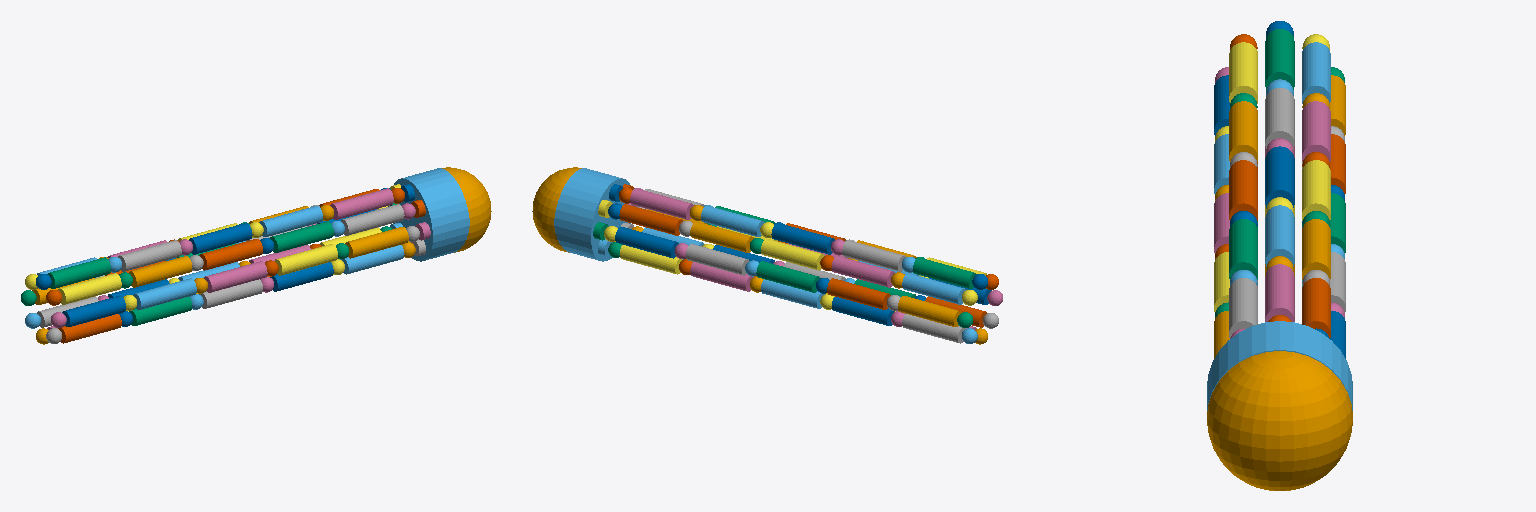
--- Facts derived from the render (not from the file) ---
3 views of the same robot in one strip: view 1: azimuth 30°, elevation 25°; view 2: azimuth 150°, elevation 25°; view 3: azimuth 270°, elevation 25° (orthographic).
Model sentinel_complete with 138 links and 137 joints (80 revolute, 57 fixed), rooted at eye, posed every joint at zero.
Links seen in each view (by area): view 1: head, eye, branch_44_cylinder, branch_21_cylinder, branch_24_cylinder, branch_35_cylinder, branch_32_cylinder, branch_22_cylinder, branch_25_cylinder, branch_31_cylinder, branch_33_cylinder, branch_41_cylinder (+10 smaller); view 2: head, eye, branch_04_cylinder, branch_21_cylinder, branch_15_cylinder, branch_24_cylinder, branch_12_cylinder, branch_01_cylinder, branch_02_cylinder, branch_03_cylinder, branch_05_cylinder, branch_11_cylinder (+10 smaller); view 3: eye, head, branch_22_cylinder, branch_23_cylinder, branch_24_cylinder, branch_25_cylinder, branch_21_cylinder, branch_14_cylinder, branch_34_cylinder, branch_15_cylinder, branch_35_cylinder, branch_12_cylinder (+15 smaller).
Boxes of the visible links, x1,y1,x2,y2 form: head: (393,168,469,261); eye: (442,167,491,252); branch_44_cylinder: (133,278,196,309); branch_21_cylinder: (330,188,393,219); branch_24_cylinder: (118,240,181,271); branch_35_cylinder: (58,273,121,304); branch_32_cylinder: (270,221,333,252); branch_22_cylinder: (259,206,322,236); branch_25_cylinder: (47,257,110,288); branch_31_cylinder: (341,204,404,235); branch_33_cylinder: (199,239,262,270); branch_41_cylinder: (345,227,408,258); head: (554,168,630,261); eye: (532,167,581,252); branch_04_cylinder: (827,278,890,309); branch_21_cylinder: (630,188,693,219); branch_15_cylinder: (902,273,965,304); branch_24_cylinder: (842,240,905,271); branch_12_cylinder: (690,221,753,252); branch_01_cylinder: (615,227,678,258); branch_02_cylinder: (686,244,748,275); branch_03_cylinder: (756,261,819,292); branch_05_cylinder: (898,296,961,326); branch_11_cylinder: (619,204,682,235); eye: (1207,351,1352,490); head: (1207,321,1352,410); branch_22_cylinder: (1265,205,1294,266); branch_23_cylinder: (1265,146,1294,207); branch_24_cylinder: (1265,88,1294,148); branch_25_cylinder: (1265,29,1294,89); branch_21_cylinder: (1265,264,1294,321); branch_14_cylinder: (1302,101,1330,161); branch_34_cylinder: (1229,101,1257,161); branch_15_cylinder: (1302,42,1330,103); branch_35_cylinder: (1229,42,1257,103); branch_12_cylinder: (1302,219,1330,279).
Size in the robot's own frame: 1.21 by 0.2 by 0.203 metres.
Geometry: primitives only (box / cylinder / sphere), no mesh files.

The robot description file, URDF, robot "sentinel_complete":
<?xml version="1.0"?>
<robot name="sentinel_complete">
<link name="eye">
  <inertial>
  <mass value="0.05"/>
  <inertia ixx="0.005" ixy="0.001" ixz="0" iyy="0.006" iyz="0" izz="0.007"/>
  </inertial>
  <collision>
    <origin rpy="0 0 0" xyz="0 0 0"/>
    <geometry>
      <sphere radius="0.1"/>
    </geometry>
  </collision>
  <visual>
    <origin rpy="0 0 0" xyz="0 0 0"/>
    <geometry>
      <sphere radius="0.1"/>
    </geometry>
  </visual>
</link>

 <link name="head">
  <inertial>
    <mass value="0.05"/>
    <inertia ixx="0.005" ixy="0.001" ixz="0" iyy="0.006" iyz="0" izz="0.007"/>
  </inertial>
  <visual>
    <origin rpy="0 1.54 0" xyz="-0.05 0 0"/>
    <geometry>
      <cylinder length="0.1" radius="0.1"/>
    </geometry>
  </visual>
  <collision>
    <origin rpy="0 1.57 0" xyz="-0.05 0 0"/>
    <geometry>
      <cylinder length="0.1" radius="0.1"/>
    </geometry>
  </collision>
 </link>

<joint name="joint_eye_head" type="fixed">
  <origin rpy="0 0 0" xyz="0 0 0"/>
  <parent link="eye"/>
  <child link="head"/>
</joint>

<!--############################################################################
branch_00
##############################################################################-->
 <link name="branch_00_cylinder">
  <inertial>
    <mass value="0.05"/>
    <inertia ixx="0.005" ixy="0.001" ixz="0" iyy="0.006" iyz="0" izz="0.007"/>
  </inertial>
  <visual>
    <origin rpy="0 1.54 0" xyz="-0.009375 0 0"/>
    <geometry>
      <cylinder length="0.01875" radius="0.02"/>
    </geometry>
  </visual>
  <collision>
    <origin rpy="0 1.57 0" xyz="-0.009375 0 0"/>
    <geometry>
      <cylinder length="0.01875" radius="0.02"/>
    </geometry>
  </collision>
 </link>

<joint name="head_branch_00_joint" type="fixed">
  <origin rpy="0 0 0" xyz="-0.1 0.07 0.0"/>
  <parent link="head"/>
  <child link="branch_00_cylinder"/>
</joint>

<link name="branch_00">
  <inertial>
  <mass value="0.05"/>
  <inertia ixx="0.005" ixy="0.001" ixz="0" iyy="0.006" iyz="0" izz="0.007"/>
  </inertial>
  <collision>
    <origin rpy="0 0 0" xyz="-0.03875 0 0"/>
    <geometry>
      <sphere radius="0.019"/>
    </geometry>
  </collision>
  <visual>
    <origin rpy="0 0 0" xyz="-0.03875 0 0"/>
    <geometry>
      <sphere radius="0.019"/>
    </geometry>
  </visual>
</link>

<joint name="branch_00_fixed" type="fixed">
  <origin rpy="0 0 0" xyz="0 0 0"/>
  <parent link="branch_00_cylinder"/>
  <child link="branch_00"/>
</joint>

 <link name="branch_01_cylinder">
  <inertial>
    <mass value="0.05"/>
    <inertia ixx="0.005" ixy="0.001" ixz="0" iyy="0.006" iyz="0" izz="0.007"/>
  </inertial>
  <visual>
    <origin rpy="0 1.54 0" xyz="-0.095 0 0"/>
    <geometry>
      <cylinder length="0.15" radius="0.02"/>
    </geometry>
  </visual>
  <collision>
    <origin rpy="0 1.57 0" xyz="-0.095 0 0"/>
    <geometry>
      <cylinder length="0.15" radius="0.02"/>
    </geometry>
  </collision>
 </link>

<joint name="branch_00_branch_01_joint_revolute_Z" type="revolute">
  <origin rpy="0 0 0" xyz="-0.03875 0 0"/>
  <parent link="branch_00"/>
  <child link="branch_00_spherical_joint_link"/>
  <axis xyz="0 0 1"/>
  <dynamics damping="0.5" friction="0"/>
  <limit lower="-1.57079632679" upper="1.57079632679" effort="0.01" velocity="100"/>
</joint>

<link name="branch_00_spherical_joint_link" physical="0">
  <inertial>
  <mass value="0.05"/>
  <inertia ixx="0.005" ixy="0.001" ixz="0" iyy="0.006" iyz="0" izz="0.007"/>
  </inertial>
  <collision>
    <origin rpy="0 0 0" xyz="0 0 0"/>
    <geometry>
      <sphere radius="0.001"/>
    </geometry>
  </collision>
  <visual>
    <origin rpy="0 0 0" xyz="0 0 0"/>
    <geometry>
      <sphere radius="0.001"/>
    </geometry>
  </visual>
</link>

<joint name="branch_00_branch_01_joint_revolute_Y" type="revolute">
  <origin rpy="0 0 0" xyz="0 0 0"/>
  <parent link="branch_00_spherical_joint_link"/>
  <child link="branch_01_cylinder"/>
  <axis xyz="0 1 0"/>
  <dynamics damping="0.5" friction="0"/>
  <limit lower="-1.57079632679" upper="1.57079632679" effort="0.01" velocity="100"/>
</joint>

<link name="branch_01">
  <inertial>
  <mass value="0.05"/>
  <inertia ixx="0.005" ixy="0.001" ixz="0" iyy="0.006" iyz="0" izz="0.007"/>
  </inertial>
  <collision>
    <origin rpy="0 0 0" xyz="-0.19 0 0"/>
    <geometry>
      <sphere radius="0.019"/>
    </geometry>
  </collision>
  <visual>
    <origin rpy="0 0 0" xyz="-0.19 0 0"/>
    <geometry>
      <sphere radius="0.019"/>
    </geometry>
  </visual>
</link>

<joint name="branch_01_fixed" type="fixed">
  <origin rpy="0 0 0" xyz="0 0 0"/>
  <parent link="branch_01_cylinder"/>
  <child link="branch_01"/>
</joint>

 <link name="branch_02_cylinder">
  <inertial>
    <mass value="0.05"/>
    <inertia ixx="0.005" ixy="0.001" ixz="0" iyy="0.006" iyz="0" izz="0.007"/>
  </inertial>
  <visual>
    <origin rpy="0 1.54 0" xyz="-0.095 0 0"/>
    <geometry>
      <cylinder length="0.15" radius="0.02"/>
    </geometry>
  </visual>
  <collision>
    <origin rpy="0 1.57 0" xyz="-0.095 0 0"/>
    <geometry>
      <cylinder length="0.15" radius="0.02"/>
    </geometry>
  </collision>
 </link>

<joint name="branch_01_branch_02_joint_revolute_Z" type="revolute">
  <origin rpy="0 0 0" xyz="-0.19 0 0"/>
  <parent link="branch_01"/>
  <child link="branch_01_spherical_joint_link"/>
  <axis xyz="0 0 1"/>
  <dynamics damping="0.5" friction="0"/>
  <limit lower="-1.57079632679" upper="1.57079632679" effort="0.01" velocity="100"/>
</joint>

<link name="branch_01_spherical_joint_link" physical="0">
  <inertial>
  <mass value="0.05"/>
  <inertia ixx="0.005" ixy="0.001" ixz="0" iyy="0.006" iyz="0" izz="0.007"/>
  </inertial>
  <collision>
    <origin rpy="0 0 0" xyz="0 0 0"/>
    <geometry>
      <sphere radius="0.001"/>
    </geometry>
  </collision>
  <visual>
    <origin rpy="0 0 0" xyz="0 0 0"/>
    <geometry>
      <sphere radius="0.001"/>
    </geometry>
  </visual>
</link>

<joint name="branch_01_branch_02_joint_revolute_Y" type="revolute">
  <origin rpy="0 0 0" xyz="0 0 0"/>
  <parent link="branch_01_spherical_joint_link"/>
  <child link="branch_02_cylinder"/>
  <axis xyz="0 1 0"/>
  <dynamics damping="0.5" friction="0"/>
  <limit lower="-1.57079632679" upper="1.57079632679" effort="0.01" velocity="100"/>
</joint>

<link name="branch_02">
  <inertial>
  <mass value="0.05"/>
  <inertia ixx="0.005" ixy="0.001" ixz="0" iyy="0.006" iyz="0" izz="0.007"/>
  </inertial>
  <collision>
    <origin rpy="0 0 0" xyz="-0.19 0 0"/>
    <geometry>
      <sphere radius="0.019"/>
    </geometry>
  </collision>
  <visual>
    <origin rpy="0 0 0" xyz="-0.19 0 0"/>
    <geometry>
      <sphere radius="0.019"/>
    </geometry>
  </visual>
</link>

<joint name="branch_02_fixed" type="fixed">
  <origin rpy="0 0 0" xyz="0 0 0"/>
  <parent link="branch_02_cylinder"/>
  <child link="branch_02"/>
</joint>

 <link name="branch_03_cylinder">
  <inertial>
    <mass value="0.05"/>
    <inertia ixx="0.005" ixy="0.001" ixz="0" iyy="0.006" iyz="0" izz="0.007"/>
  </inertial>
  <visual>
    <origin rpy="0 1.54 0" xyz="-0.095 0 0"/>
    <geometry>
      <cylinder length="0.15" radius="0.02"/>
    </geometry>
  </visual>
  <collision>
    <origin rpy="0 1.57 0" xyz="-0.095 0 0"/>
    <geometry>
      <cylinder length="0.15" radius="0.02"/>
    </geometry>
  </collision>
 </link>

<joint name="branch_02_branch_03_joint_revolute_Z" type="revolute">
  <origin rpy="0 0 0" xyz="-0.19 0 0"/>
  <parent link="branch_02"/>
  <child link="branch_02_spherical_joint_link"/>
  <axis xyz="0 0 1"/>
  <dynamics damping="0.5" friction="0"/>
  <limit lower="-1.57079632679" upper="1.57079632679" effort="0.01" velocity="100"/>
</joint>

<link name="branch_02_spherical_joint_link" physical="0">
  <inertial>
  <mass value="0.05"/>
  <inertia ixx="0.005" ixy="0.001" ixz="0" iyy="0.006" iyz="0" izz="0.007"/>
  </inertial>
  <collision>
    <origin rpy="0 0 0" xyz="0 0 0"/>
    <geometry>
      <sphere radius="0.001"/>
    </geometry>
  </collision>
  <visual>
    <origin rpy="0 0 0" xyz="0 0 0"/>
    <geometry>
      <sphere radius="0.001"/>
    </geometry>
  </visual>
</link>

<joint name="branch_02_branch_03_joint_revolute_Y" type="revolute">
  <origin rpy="0 0 0" xyz="0 0 0"/>
  <parent link="branch_02_spherical_joint_link"/>
  <child link="branch_03_cylinder"/>
  <axis xyz="0 1 0"/>
  <dynamics damping="0.5" friction="0"/>
  <limit lower="-1.57079632679" upper="1.57079632679" effort="0.01" velocity="100"/>
</joint>

<link name="branch_03">
  <inertial>
  <mass value="0.05"/>
  <inertia ixx="0.005" ixy="0.001" ixz="0" iyy="0.006" iyz="0" izz="0.007"/>
  </inertial>
  <collision>
    <origin rpy="0 0 0" xyz="-0.19 0 0"/>
    <geometry>
      <sphere radius="0.019"/>
    </geometry>
  </collision>
  <visual>
    <origin rpy="0 0 0" xyz="-0.19 0 0"/>
    <geometry>
      <sphere radius="0.019"/>
    </geometry>
  </visual>
</link>

<joint name="branch_03_fixed" type="fixed">
  <origin rpy="0 0 0" xyz="0 0 0"/>
  <parent link="branch_03_cylinder"/>
  <child link="branch_03"/>
</joint>

 <link name="branch_04_cylinder">
  <inertial>
    <mass value="0.05"/>
    <inertia ixx="0.005" ixy="0.001" ixz="0" iyy="0.006" iyz="0" izz="0.007"/>
  </inertial>
  <visual>
    <origin rpy="0 1.54 0" xyz="-0.095 0 0"/>
    <geometry>
      <cylinder length="0.15" radius="0.02"/>
    </geometry>
  </visual>
  <collision>
    <origin rpy="0 1.57 0" xyz="-0.095 0 0"/>
    <geometry>
      <cylinder length="0.15" radius="0.02"/>
    </geometry>
  </collision>
 </link>

<joint name="branch_03_branch_04_joint_revolute_Z" type="revolute">
  <origin rpy="0 0 0" xyz="-0.19 0 0"/>
  <parent link="branch_03"/>
  <child link="branch_03_spherical_joint_link"/>
  <axis xyz="0 0 1"/>
  <dynamics damping="0.5" friction="0"/>
  <limit lower="-1.57079632679" upper="1.57079632679" effort="0.01" velocity="100"/>
</joint>

<link name="branch_03_spherical_joint_link" physical="0">
  <inertial>
  <mass value="0.05"/>
  <inertia ixx="0.005" ixy="0.001" ixz="0" iyy="0.006" iyz="0" izz="0.007"/>
  </inertial>
  <collision>
    <origin rpy="0 0 0" xyz="0 0 0"/>
    <geometry>
      <sphere radius="0.001"/>
    </geometry>
  </collision>
  <visual>
    <origin rpy="0 0 0" xyz="0 0 0"/>
    <geometry>
      <sphere radius="0.001"/>
    </geometry>
  </visual>
</link>

<joint name="branch_03_branch_04_joint_revolute_Y" type="revolute">
  <origin rpy="0 0 0" xyz="0 0 0"/>
  <parent link="branch_03_spherical_joint_link"/>
  <child link="branch_04_cylinder"/>
  <axis xyz="0 1 0"/>
  <dynamics damping="0.5" friction="0"/>
  <limit lower="-1.57079632679" upper="1.57079632679" effort="0.01" velocity="100"/>
</joint>

<link name="branch_04">
  <inertial>
  <mass value="0.05"/>
  <inertia ixx="0.005" ixy="0.001" ixz="0" iyy="0.006" iyz="0" izz="0.007"/>
  </inertial>
  <collision>
    <origin rpy="0 0 0" xyz="-0.19 0 0"/>
    <geometry>
      <sphere radius="0.019"/>
    </geometry>
  </collision>
  <visual>
    <origin rpy="0 0 0" xyz="-0.19 0 0"/>
    <geometry>
      <sphere radius="0.019"/>
    </geometry>
  </visual>
</link>

<joint name="branch_04_fixed" type="fixed">
  <origin rpy="0 0 0" xyz="0 0 0"/>
  <parent link="branch_04_cylinder"/>
  <child link="branch_04"/>
</joint>

 <link name="branch_05_cylinder">
  <inertial>
    <mass value="0.05"/>
    <inertia ixx="0.005" ixy="0.001" ixz="0" iyy="0.006" iyz="0" izz="0.007"/>
  </inertial>
  <visual>
    <origin rpy="0 1.54 0" xyz="-0.095 0 0"/>
    <geometry>
      <cylinder length="0.15" radius="0.02"/>
    </geometry>
  </visual>
  <collision>
    <origin rpy="0 1.57 0" xyz="-0.095 0 0"/>
    <geometry>
      <cylinder length="0.15" radius="0.02"/>
    </geometry>
  </collision>
 </link>

<joint name="branch_04_branch_05_joint_revolute_Z" type="revolute">
  <origin rpy="0 0 0" xyz="-0.19 0 0"/>
  <parent link="branch_04"/>
  <child link="branch_04_spherical_joint_link"/>
  <axis xyz="0 0 1"/>
  <dynamics damping="0.5" friction="0"/>
  <limit lower="-1.57079632679" upper="1.57079632679" effort="0.01" velocity="100"/>
</joint>

<link name="branch_04_spherical_joint_link" physical="0">
  <inertial>
  <mass value="0.05"/>
  <inertia ixx="0.005" ixy="0.001" ixz="0" iyy="0.006" iyz="0" izz="0.007"/>
  </inertial>
  <collision>
    <origin rpy="0 0 0" xyz="0 0 0"/>
    <geometry>
      <sphere radius="0.001"/>
    </geometry>
  </collision>
  <visual>
    <origin rpy="0 0 0" xyz="0 0 0"/>
    <geometry>
      <sphere radius="0.001"/>
    </geometry>
  </visual>
</link>

<joint name="branch_04_branch_05_joint_revolute_Y" type="revolute">
  <origin rpy="0 0 0" xyz="0 0 0"/>
  <parent link="branch_04_spherical_joint_link"/>
  <child link="branch_05_cylinder"/>
  <axis xyz="0 1 0"/>
  <dynamics damping="0.5" friction="0"/>
  <limit lower="-1.57079632679" upper="1.57079632679" effort="0.01" velocity="100"/>
</joint>

<link name="branch_05">
  <inertial>
  <mass value="0.05"/>
  <inertia ixx="0.005" ixy="0.001" ixz="0" iyy="0.006" iyz="0" izz="0.007"/>
  </inertial>
  <collision>
    <origin rpy="0 0 0" xyz="-0.19 0 0"/>
    <geometry>
      <sphere radius="0.019"/>
    </geometry>
  </collision>
  <visual>
    <origin rpy="0 0 0" xyz="-0.19 0 0"/>
    <geometry>
      <sphere radius="0.019"/>
    </geometry>
  </visual>
</link>

<joint name="branch_05_fixed" type="fixed">
  <origin rpy="0 0 0" xyz="0 0 0"/>
  <parent link="branch_05_cylinder"/>
  <child link="branch_05"/>
</joint>

<!--############################################################################
branch_10
##############################################################################-->
 <link name="branch_10_cylinder">
  <inertial>
    <mass value="0.05"/>
    <inertia ixx="0.005" ixy="0.001" ixz="0" iyy="0.006" iyz="0" izz="0.007"/>
  </inertial>
  <visual>
    <origin rpy="0 1.54 0" xyz="-0.009375 0 0"/>
    <geometry>
      <cylinder length="0.01875" radius="0.02"/>
    </geometry>
  </visual>
  <collision>
    <origin rpy="0 1.57 0" xyz="-0.009375 0 0"/>
    <geometry>
      <cylinder length="0.01875" radius="0.02"/>
    </geometry>
  </collision>
 </link>

<joint name="head_branch_10_joint" type="fixed">
  <origin rpy="0 0 0" xyz="-0.1 0.0494974746831 0.0494974746831"/>
  <parent link="head"/>
  <child link="branch_10_cylinder"/>
</joint>

<link name="branch_10">
  <inertial>
  <mass value="0.05"/>
  <inertia ixx="0.005" ixy="0.001" ixz="0" iyy="0.006" iyz="0" izz="0.007"/>
  </inertial>
  <collision>
    <origin rpy="0 0 0" xyz="-0.03875 0 0"/>
    <geometry>
      <sphere radius="0.019"/>
    </geometry>
  </collision>
  <visual>
    <origin rpy="0 0 0" xyz="-0.03875 0 0"/>
    <geometry>
      <sphere radius="0.019"/>
    </geometry>
  </visual>
</link>

<joint name="branch_10_fixed" type="fixed">
  <origin rpy="0 0 0" xyz="0 0 0"/>
  <parent link="branch_10_cylinder"/>
  <child link="branch_10"/>
</joint>

 <link name="branch_11_cylinder">
  <inertial>
    <mass value="0.05"/>
    <inertia ixx="0.005" ixy="0.001" ixz="0" iyy="0.006" iyz="0" izz="0.007"/>
  </inertial>
  <visual>
    <origin rpy="0 1.54 0" xyz="-0.095 0 0"/>
    <geometry>
      <cylinder length="0.15" radius="0.02"/>
    </geometry>
  </visual>
  <collision>
    <origin rpy="0 1.57 0" xyz="-0.095 0 0"/>
    <geometry>
      <cylinder length="0.15" radius="0.02"/>
    </geometry>
  </collision>
 </link>

<joint name="branch_10_branch_11_joint_revolute_Z" type="revolute">
  <origin rpy="0 0 0" xyz="-0.03875 0 0"/>
  <parent link="branch_10"/>
  <child link="branch_10_spherical_joint_link"/>
  <axis xyz="0 0 1"/>
  <dynamics damping="0.5" friction="0"/>
  <limit lower="-1.57079632679" upper="1.57079632679" effort="0.01" velocity="100"/>
</joint>

<link name="branch_10_spherical_joint_link" physical="0">
  <inertial>
  <mass value="0.05"/>
  <inertia ixx="0.005" ixy="0.001" ixz="0" iyy="0.006" iyz="0" izz="0.007"/>
  </inertial>
  <collision>
    <origin rpy="0 0 0" xyz="0 0 0"/>
    <geometry>
      <sphere radius="0.001"/>
    </geometry>
  </collision>
  <visual>
    <origin rpy="0 0 0" xyz="0 0 0"/>
    <geometry>
      <sphere radius="0.001"/>
    </geometry>
  </visual>
</link>

<joint name="branch_10_branch_11_joint_revolute_Y" type="revolute">
  <origin rpy="0 0 0" xyz="0 0 0"/>
  <parent link="branch_10_spherical_joint_link"/>
  <child link="branch_11_cylinder"/>
  <axis xyz="0 1 0"/>
  <dynamics damping="0.5" friction="0"/>
  <limit lower="-1.57079632679" upper="1.57079632679" effort="0.01" velocity="100"/>
</joint>

<link name="branch_11">
  <inertial>
  <mass value="0.05"/>
  <inertia ixx="0.005" ixy="0.001" ixz="0" iyy="0.006" iyz="0" izz="0.007"/>
  </inertial>
  <collision>
    <origin rpy="0 0 0" xyz="-0.19 0 0"/>
    <geometry>
      <sphere radius="0.019"/>
    </geometry>
  </collision>
  <visual>
    <origin rpy="0 0 0" xyz="-0.19 0 0"/>
    <geometry>
      <sphere radius="0.019"/>
    </geometry>
  </visual>
</link>

<joint name="branch_11_fixed" type="fixed">
  <origin rpy="0 0 0" xyz="0 0 0"/>
  <parent link="branch_11_cylinder"/>
  <child link="branch_11"/>
</joint>

 <link name="branch_12_cylinder">
  <inertial>
    <mass value="0.05"/>
    <inertia ixx="0.005" ixy="0.001" ixz="0" iyy="0.006" iyz="0" izz="0.007"/>
  </inertial>
  <visual>
    <origin rpy="0 1.54 0" xyz="-0.095 0 0"/>
    <geometry>
      <cylinder length="0.15" radius="0.02"/>
    </geometry>
  </visual>
  <collision>
    <origin rpy="0 1.57 0" xyz="-0.095 0 0"/>
    <geometry>
      <cylinder length="0.15" radius="0.02"/>
    </geometry>
  </collision>
 </link>

<joint name="branch_11_branch_12_joint_revolute_Z" type="revolute">
  <origin rpy="0 0 0" xyz="-0.19 0 0"/>
  <parent link="branch_11"/>
  <child link="branch_11_spherical_joint_link"/>
  <axis xyz="0 0 1"/>
  <dynamics damping="0.5" friction="0"/>
  <limit lower="-1.57079632679" upper="1.57079632679" effort="0.01" velocity="100"/>
</joint>

<link name="branch_11_spherical_joint_link" physical="0">
  <inertial>
  <mass value="0.05"/>
  <inertia ixx="0.005" ixy="0.001" ixz="0" iyy="0.006" iyz="0" izz="0.007"/>
  </inertial>
  <collision>
    <origin rpy="0 0 0" xyz="0 0 0"/>
    <geometry>
      <sphere radius="0.001"/>
    </geometry>
  </collision>
  <visual>
    <origin rpy="0 0 0" xyz="0 0 0"/>
    <geometry>
      <sphere radius="0.001"/>
    </geometry>
  </visual>
</link>

<joint name="branch_11_branch_12_joint_revolute_Y" type="revolute">
  <origin rpy="0 0 0" xyz="0 0 0"/>
  <parent link="branch_11_spherical_joint_link"/>
  <child link="branch_12_cylinder"/>
  <axis xyz="0 1 0"/>
  <dynamics damping="0.5" friction="0"/>
  <limit lower="-1.57079632679" upper="1.57079632679" effort="0.01" velocity="100"/>
</joint>

<link name="branch_12">
  <inertial>
  <mass value="0.05"/>
  <inertia ixx="0.005" ixy="0.001" ixz="0" iyy="0.006" iyz="0" izz="0.007"/>
  </inertial>
  <collision>
    <origin rpy="0 0 0" xyz="-0.19 0 0"/>
    <geometry>
      <sphere radius="0.019"/>
    </geometry>
  </collision>
  <visual>
    <origin rpy="0 0 0" xyz="-0.19 0 0"/>
    <geometry>
      <sphere radius="0.019"/>
    </geometry>
  </visual>
</link>

<joint name="branch_12_fixed" type="fixed">
  <origin rpy="0 0 0" xyz="0 0 0"/>
  <parent link="branch_12_cylinder"/>
  <child link="branch_12"/>
</joint>

 <link name="branch_13_cylinder">
  <inertial>
    <mass value="0.05"/>
    <inertia ixx="0.005" ixy="0.001" ixz="0" iyy="0.006" iyz="0" izz="0.007"/>
  </inertial>
  <visual>
    <origin rpy="0 1.54 0" xyz="-0.095 0 0"/>
    <geometry>
      <cylinder length="0.15" radius="0.02"/>
    </geometry>
  </visual>
  <collision>
    <origin rpy="0 1.57 0" xyz="-0.095 0 0"/>
    <geometry>
      <cylinder length="0.15" radius="0.02"/>
    </geometry>
  </collision>
 </link>

<joint name="branch_12_branch_13_joint_revolute_Z" type="revolute">
  <origin rpy="0 0 0" xyz="-0.19 0 0"/>
  <parent link="branch_12"/>
  <child link="branch_12_spherical_joint_link"/>
  <axis xyz="0 0 1"/>
  <dynamics damping="0.5" friction="0"/>
  <limit lower="-1.57079632679" upper="1.57079632679" effort="0.01" velocity="100"/>
</joint>

<link name="branch_12_spherical_joint_link" physical="0">
  <inertial>
  <mass value="0.05"/>
  <inertia ixx="0.005" ixy="0.001" ixz="0" iyy="0.006" iyz="0" izz="0.007"/>
  </inertial>
  <collision>
    <origin rpy="0 0 0" xyz="0 0 0"/>
    <geometry>
      <sphere radius="0.001"/>
    </geometry>
  </collision>
  <visual>
    <origin rpy="0 0 0" xyz="0 0 0"/>
    <geometry>
      <sphere radius="0.001"/>
    </geometry>
  </visual>
</link>

<joint name="branch_12_branch_13_joint_revolute_Y" type="revolute">
  <origin rpy="0 0 0" xyz="0 0 0"/>
  <parent link="branch_12_spherical_joint_link"/>
  <child link="branch_13_cylinder"/>
  <axis xyz="0 1 0"/>
  <dynamics damping="0.5" friction="0"/>
  <limit lower="-1.57079632679" upper="1.57079632679" effort="0.01" velocity="100"/>
</joint>

<link name="branch_13">
  <inertial>
  <mass value="0.05"/>
  <inertia ixx="0.005" ixy="0.001" ixz="0" iyy="0.006" iyz="0" izz="0.007"/>
  </inertial>
  <collision>
    <origin rpy="0 0 0" xyz="-0.19 0 0"/>
    <geometry>
      <sphere radius="0.019"/>
    </geometry>
  </collision>
  <visual>
    <origin rpy="0 0 0" xyz="-0.19 0 0"/>
    <geometry>
      <sphere radius="0.019"/>
    </geometry>
  </visual>
</link>

<joint name="branch_13_fixed" type="fixed">
  <origin rpy="0 0 0" xyz="0 0 0"/>
  <parent link="branch_13_cylinder"/>
  <child link="branch_13"/>
</joint>

 <link name="branch_14_cylinder">
  <inertial>
    <mass value="0.05"/>
    <inertia ixx="0.005" ixy="0.001" ixz="0" iyy="0.006" iyz="0" izz="0.007"/>
  </inertial>
  <visual>
    <origin rpy="0 1.54 0" xyz="-0.095 0 0"/>
    <geometry>
      <cylinder length="0.15" radius="0.02"/>
    </geometry>
  </visual>
  <collision>
    <origin rpy="0 1.57 0" xyz="-0.095 0 0"/>
    <geometry>
      <cylinder length="0.15" radius="0.02"/>
    </geometry>
  </collision>
 </link>

<joint name="branch_13_branch_14_joint_revolute_Z" type="revolute">
  <origin rpy="0 0 0" xyz="-0.19 0 0"/>
  <parent link="branch_13"/>
  <child link="branch_13_spherical_joint_link"/>
  <axis xyz="0 0 1"/>
  <dynamics damping="0.5" friction="0"/>
  <limit lower="-1.57079632679" upper="1.57079632679" effort="0.01" velocity="100"/>
</joint>

<link name="branch_13_spherical_joint_link" physical="0">
  <inertial>
  <mass value="0.05"/>
  <inertia ixx="0.005" ixy="0.001" ixz="0" iyy="0.006" iyz="0" izz="0.007"/>
  </inertial>
  <collision>
    <origin rpy="0 0 0" xyz="0 0 0"/>
    <geometry>
      <sphere radius="0.001"/>
    </geometry>
  </collision>
  <visual>
    <origin rpy="0 0 0" xyz="0 0 0"/>
    <geometry>
      <sphere radius="0.001"/>
    </geometry>
  </visual>
</link>

<joint name="branch_13_branch_14_joint_revolute_Y" type="revolute">
  <origin rpy="0 0 0" xyz="0 0 0"/>
  <parent link="branch_13_spherical_joint_link"/>
  <child link="branch_14_cylinder"/>
  <axis xyz="0 1 0"/>
  <dynamics damping="0.5" friction="0"/>
  <limit lower="-1.57079632679" upper="1.57079632679" effort="0.01" velocity="100"/>
</joint>

<link name="branch_14">
  <inertial>
  <mass value="0.05"/>
  <inertia ixx="0.005" ixy="0.001" ixz="0" iyy="0.006" iyz="0" izz="0.007"/>
  </inertial>
  <collision>
    <origin rpy="0 0 0" xyz="-0.19 0 0"/>
    <geometry>
      <sphere radius="0.019"/>
    </geometry>
  </collision>
  <visual>
    <origin rpy="0 0 0" xyz="-0.19 0 0"/>
    <geometry>
      <sphere radius="0.019"/>
    </geometry>
  </visual>
</link>

<joint name="branch_14_fixed" type="fixed">
  <origin rpy="0 0 0" xyz="0 0 0"/>
  <parent link="branch_14_cylinder"/>
  <child link="branch_14"/>
</joint>

 <link name="branch_15_cylinder">
  <inertial>
    <mass value="0.05"/>
    <inertia ixx="0.005" ixy="0.001" ixz="0" iyy="0.006" iyz="0" izz="0.007"/>
  </inertial>
  <visual>
    <origin rpy="0 1.54 0" xyz="-0.095 0 0"/>
    <geometry>
      <cylinder length="0.15" radius="0.02"/>
    </geometry>
  </visual>
  <collision>
    <origin rpy="0 1.57 0" xyz="-0.095 0 0"/>
    <geometry>
      <cylinder length="0.15" radius="0.02"/>
    </geometry>
  </collision>
 </link>

<joint name="branch_14_branch_15_joint_revolute_Z" type="revolute">
  <origin rpy="0 0 0" xyz="-0.19 0 0"/>
  <parent link="branch_14"/>
  <child link="branch_14_spherical_joint_link"/>
  <axis xyz="0 0 1"/>
  <dynamics damping="0.5" friction="0"/>
  <limit lower="-1.57079632679" upper="1.57079632679" effort="0.01" velocity="100"/>
</joint>

<link name="branch_14_spherical_joint_link" physical="0">
  <inertial>
  <mass value="0.05"/>
  <inertia ixx="0.005" ixy="0.001" ixz="0" iyy="0.006" iyz="0" izz="0.007"/>
  </inertial>
  <collision>
    <origin rpy="0 0 0" xyz="0 0 0"/>
    <geometry>
      <sphere radius="0.001"/>
    </geometry>
  </collision>
  <visual>
    <origin rpy="0 0 0" xyz="0 0 0"/>
    <geometry>
      <sphere radius="0.001"/>
    </geometry>
  </visual>
</link>

<joint name="branch_14_branch_15_joint_revolute_Y" type="revolute">
  <origin rpy="0 0 0" xyz="0 0 0"/>
  <parent link="branch_14_spherical_joint_link"/>
  <child link="branch_15_cylinder"/>
  <axis xyz="0 1 0"/>
  <dynamics damping="0.5" friction="0"/>
  <limit lower="-1.57079632679" upper="1.57079632679" effort="0.01" velocity="100"/>
</joint>

<link name="branch_15">
  <inertial>
  <mass value="0.05"/>
  <inertia ixx="0.005" ixy="0.001" ixz="0" iyy="0.006" iyz="0" izz="0.007"/>
  </inertial>
  <collision>
    <origin rpy="0 0 0" xyz="-0.19 0 0"/>
    <geometry>
      <sphere radius="0.019"/>
    </geometry>
  </collision>
  <visual>
    <origin rpy="0 0 0" xyz="-0.19 0 0"/>
    <geometry>
      <sphere radius="0.019"/>
    </geometry>
  </visual>
</link>

<joint name="branch_15_fixed" type="fixed">
  <origin rpy="0 0 0" xyz="0 0 0"/>
  <parent link="branch_15_cylinder"/>
  <child link="branch_15"/>
</joint>

<!--############################################################################
branch_20
##############################################################################-->
 <link name="branch_20_cylinder">
  <inertial>
    <mass value="0.05"/>
    <inertia ixx="0.005" ixy="0.001" ixz="0" iyy="0.006" iyz="0" izz="0.007"/>
  </inertial>
  <visual>
    <origin rpy="0 1.54 0" xyz="-0.009375 0 0"/>
    <geometry>
      <cylinder length="0.01875" radius="0.02"/>
    </geometry>
  </visual>
  <collision>
    <origin rpy="0 1.57 0" xyz="-0.009375 0 0"/>
    <geometry>
      <cylinder length="0.01875" radius="0.02"/>
    </geometry>
  </collision>
 </link>

<joint name="head_branch_20_joint" type="fixed">
  <origin rpy="0 0 0" xyz="-0.1 4.28626379702e-18 0.07"/>
  <parent link="head"/>
  <child link="branch_20_cylinder"/>
</joint>

<link name="branch_20">
  <inertial>
  <mass value="0.05"/>
  <inertia ixx="0.005" ixy="0.001" ixz="0" iyy="0.006" iyz="0" izz="0.007"/>
  </inertial>
  <collision>
    <origin rpy="0 0 0" xyz="-0.03875 0 0"/>
    <geometry>
      <sphere radius="0.019"/>
    </geometry>
  </collision>
  <visual>
    <origin rpy="0 0 0" xyz="-0.03875 0 0"/>
    <geometry>
      <sphere radius="0.019"/>
    </geometry>
  </visual>
</link>

<joint name="branch_20_fixed" type="fixed">
  <origin rpy="0 0 0" xyz="0 0 0"/>
  <parent link="branch_20_cylinder"/>
  <child link="branch_20"/>
</joint>

 <link name="branch_21_cylinder">
  <inertial>
    <mass value="0.05"/>
    <inertia ixx="0.005" ixy="0.001" ixz="0" iyy="0.006" iyz="0" izz="0.007"/>
  </inertial>
  <visual>
    <origin rpy="0 1.54 0" xyz="-0.095 0 0"/>
    <geometry>
      <cylinder length="0.15" radius="0.02"/>
    </geometry>
  </visual>
  <collision>
    <origin rpy="0 1.57 0" xyz="-0.095 0 0"/>
    <geometry>
      <cylinder length="0.15" radius="0.02"/>
    </geometry>
  </collision>
 </link>

<joint name="branch_20_branch_21_joint_revolute_Z" type="revolute">
  <origin rpy="0 0 0" xyz="-0.03875 0 0"/>
  <parent link="branch_20"/>
  <child link="branch_20_spherical_joint_link"/>
  <axis xyz="0 0 1"/>
  <dynamics damping="0.5" friction="0"/>
  <limit lower="-1.57079632679" upper="1.57079632679" effort="0.01" velocity="100"/>
</joint>

<link name="branch_20_spherical_joint_link" physical="0">
  <inertial>
  <mass value="0.05"/>
  <inertia ixx="0.005" ixy="0.001" ixz="0" iyy="0.006" iyz="0" izz="0.007"/>
  </inertial>
  <collision>
    <origin rpy="0 0 0" xyz="0 0 0"/>
    <geometry>
      <sphere radius="0.001"/>
    </geometry>
  </collision>
  <visual>
    <origin rpy="0 0 0" xyz="0 0 0"/>
    <geometry>
      <sphere radius="0.001"/>
    </geometry>
  </visual>
</link>

<joint name="branch_20_branch_21_joint_revolute_Y" type="revolute">
  <origin rpy="0 0 0" xyz="0 0 0"/>
  <parent link="branch_20_spherical_joint_link"/>
  <child link="branch_21_cylinder"/>
  <axis xyz="0 1 0"/>
  <dynamics damping="0.5" friction="0"/>
  <limit lower="-1.57079632679" upper="1.57079632679" effort="0.01" velocity="100"/>
</joint>

<link name="branch_21">
  <inertial>
  <mass value="0.05"/>
  <inertia ixx="0.005" ixy="0.001" ixz="0" iyy="0.006" iyz="0" izz="0.007"/>
  </inertial>
  <collision>
    <origin rpy="0 0 0" xyz="-0.19 0 0"/>
    <geometry>
      <sphere radius="0.019"/>
    </geometry>
  </collision>
  <visual>
    <origin rpy="0 0 0" xyz="-0.19 0 0"/>
    <geometry>
      <sphere radius="0.019"/>
    </geometry>
  </visual>
</link>

<joint name="branch_21_fixed" type="fixed">
  <origin rpy="0 0 0" xyz="0 0 0"/>
  <parent link="branch_21_cylinder"/>
  <child link="branch_21"/>
</joint>

 <link name="branch_22_cylinder">
  <inertial>
    <mass value="0.05"/>
    <inertia ixx="0.005" ixy="0.001" ixz="0" iyy="0.006" iyz="0" izz="0.007"/>
  </inertial>
  <visual>
    <origin rpy="0 1.54 0" xyz="-0.095 0 0"/>
    <geometry>
      <cylinder length="0.15" radius="0.02"/>
    </geometry>
  </visual>
  <collision>
    <origin rpy="0 1.57 0" xyz="-0.095 0 0"/>
    <geometry>
      <cylinder length="0.15" radius="0.02"/>
    </geometry>
  </collision>
 </link>

<joint name="branch_21_branch_22_joint_revolute_Z" type="revolute">
  <origin rpy="0 0 0" xyz="-0.19 0 0"/>
  <parent link="branch_21"/>
  <child link="branch_21_spherical_joint_link"/>
  <axis xyz="0 0 1"/>
  <dynamics damping="0.5" friction="0"/>
  <limit lower="-1.57079632679" upper="1.57079632679" effort="0.01" velocity="100"/>
</joint>

<link name="branch_21_spherical_joint_link" physical="0">
  <inertial>
  <mass value="0.05"/>
  <inertia ixx="0.005" ixy="0.001" ixz="0" iyy="0.006" iyz="0" izz="0.007"/>
  </inertial>
  <collision>
    <origin rpy="0 0 0" xyz="0 0 0"/>
    <geometry>
      <sphere radius="0.001"/>
    </geometry>
  </collision>
  <visual>
    <origin rpy="0 0 0" xyz="0 0 0"/>
    <geometry>
      <sphere radius="0.001"/>
    </geometry>
  </visual>
</link>

<joint name="branch_21_branch_22_joint_revolute_Y" type="revolute">
  <origin rpy="0 0 0" xyz="0 0 0"/>
  <parent link="branch_21_spherical_joint_link"/>
  <child link="branch_22_cylinder"/>
  <axis xyz="0 1 0"/>
  <dynamics damping="0.5" friction="0"/>
  <limit lower="-1.57079632679" upper="1.57079632679" effort="0.01" velocity="100"/>
</joint>

<link name="branch_22">
  <inertial>
  <mass value="0.05"/>
  <inertia ixx="0.005" ixy="0.001" ixz="0" iyy="0.006" iyz="0" izz="0.007"/>
  </inertial>
  <collision>
    <origin rpy="0 0 0" xyz="-0.19 0 0"/>
    <geometry>
      <sphere radius="0.019"/>
    </geometry>
  </collision>
  <visual>
    <origin rpy="0 0 0" xyz="-0.19 0 0"/>
    <geometry>
      <sphere radius="0.019"/>
    </geometry>
  </visual>
</link>

<joint name="branch_22_fixed" type="fixed">
  <origin rpy="0 0 0" xyz="0 0 0"/>
  <parent link="branch_22_cylinder"/>
  <child link="branch_22"/>
</joint>

 <link name="branch_23_cylinder">
  <inertial>
    <mass value="0.05"/>
    <inertia ixx="0.005" ixy="0.001" ixz="0" iyy="0.006" iyz="0" izz="0.007"/>
  </inertial>
  <visual>
    <origin rpy="0 1.54 0" xyz="-0.095 0 0"/>
    <geometry>
      <cylinder length="0.15" radius="0.02"/>
    </geometry>
  </visual>
  <collision>
    <origin rpy="0 1.57 0" xyz="-0.095 0 0"/>
    <geometry>
      <cylinder length="0.15" radius="0.02"/>
    </geometry>
  </collision>
 </link>

<joint name="branch_22_branch_23_joint_revolute_Z" type="revolute">
  <origin rpy="0 0 0" xyz="-0.19 0 0"/>
  <parent link="branch_22"/>
  <child link="branch_22_spherical_joint_link"/>
  <axis xyz="0 0 1"/>
  <dynamics damping="0.5" friction="0"/>
  <limit lower="-1.57079632679" upper="1.57079632679" effort="0.01" velocity="100"/>
</joint>

<link name="branch_22_spherical_joint_link" physical="0">
  <inertial>
  <mass value="0.05"/>
  <inertia ixx="0.005" ixy="0.001" ixz="0" iyy="0.006" iyz="0" izz="0.007"/>
  </inertial>
  <collision>
    <origin rpy="0 0 0" xyz="0 0 0"/>
    <geometry>
      <sphere radius="0.001"/>
    </geometry>
  </collision>
  <visual>
    <origin rpy="0 0 0" xyz="0 0 0"/>
    <geometry>
      <sphere radius="0.001"/>
    </geometry>
  </visual>
</link>

<joint name="branch_22_branch_23_joint_revolute_Y" type="revolute">
  <origin rpy="0 0 0" xyz="0 0 0"/>
  <parent link="branch_22_spherical_joint_link"/>
  <child link="branch_23_cylinder"/>
  <axis xyz="0 1 0"/>
  <dynamics damping="0.5" friction="0"/>
  <limit lower="-1.57079632679" upper="1.57079632679" effort="0.01" velocity="100"/>
</joint>

<link name="branch_23">
  <inertial>
  <mass value="0.05"/>
  <inertia ixx="0.005" ixy="0.001" ixz="0" iyy="0.006" iyz="0" izz="0.007"/>
  </inertial>
  <collision>
    <origin rpy="0 0 0" xyz="-0.19 0 0"/>
    <geometry>
      <sphere radius="0.019"/>
    </geometry>
  </collision>
  <visual>
    <origin rpy="0 0 0" xyz="-0.19 0 0"/>
    <geometry>
      <sphere radius="0.019"/>
    </geometry>
  </visual>
</link>

<joint name="branch_23_fixed" type="fixed">
  <origin rpy="0 0 0" xyz="0 0 0"/>
  <parent link="branch_23_cylinder"/>
  <child link="branch_23"/>
</joint>

 <link name="branch_24_cylinder">
  <inertial>
    <mass value="0.05"/>
    <inertia ixx="0.005" ixy="0.001" ixz="0" iyy="0.006" iyz="0" izz="0.007"/>
  </inertial>
  <visual>
    <origin rpy="0 1.54 0" xyz="-0.095 0 0"/>
    <geometry>
      <cylinder length="0.15" radius="0.02"/>
    </geometry>
  </visual>
  <collision>
    <origin rpy="0 1.57 0" xyz="-0.095 0 0"/>
    <geometry>
      <cylinder length="0.15" radius="0.02"/>
    </geometry>
  </collision>
 </link>

<joint name="branch_23_branch_24_joint_revolute_Z" type="revolute">
  <origin rpy="0 0 0" xyz="-0.19 0 0"/>
  <parent link="branch_23"/>
  <child link="branch_23_spherical_joint_link"/>
  <axis xyz="0 0 1"/>
  <dynamics damping="0.5" friction="0"/>
  <limit lower="-1.57079632679" upper="1.57079632679" effort="0.01" velocity="100"/>
</joint>

<link name="branch_23_spherical_joint_link" physical="0">
  <inertial>
  <mass value="0.05"/>
  <inertia ixx="0.005" ixy="0.001" ixz="0" iyy="0.006" iyz="0" izz="0.007"/>
  </inertial>
  <collision>
    <origin rpy="0 0 0" xyz="0 0 0"/>
    <geometry>
      <sphere radius="0.001"/>
    </geometry>
  </collision>
  <visual>
    <origin rpy="0 0 0" xyz="0 0 0"/>
    <geometry>
      <sphere radius="0.001"/>
    </geometry>
  </visual>
</link>

<joint name="branch_23_branch_24_joint_revolute_Y" type="revolute">
  <origin rpy="0 0 0" xyz="0 0 0"/>
  <parent link="branch_23_spherical_joint_link"/>
  <child link="branch_24_cylinder"/>
  <axis xyz="0 1 0"/>
  <dynamics damping="0.5" friction="0"/>
  <limit lower="-1.57079632679" upper="1.57079632679" effort="0.01" velocity="100"/>
</joint>

<link name="branch_24">
  <inertial>
  <mass value="0.05"/>
  <inertia ixx="0.005" ixy="0.001" ixz="0" iyy="0.006" iyz="0" izz="0.007"/>
  </inertial>
  <collision>
    <origin rpy="0 0 0" xyz="-0.19 0 0"/>
    <geometry>
      <sphere radius="0.019"/>
    </geometry>
  </collision>
  <visual>
    <origin rpy="0 0 0" xyz="-0.19 0 0"/>
    <geometry>
      <sphere radius="0.019"/>
    </geometry>
  </visual>
</link>

<joint name="branch_24_fixed" type="fixed">
  <origin rpy="0 0 0" xyz="0 0 0"/>
  <parent link="branch_24_cylinder"/>
  <child link="branch_24"/>
</joint>

 <link name="branch_25_cylinder">
  <inertial>
    <mass value="0.05"/>
    <inertia ixx="0.005" ixy="0.001" ixz="0" iyy="0.006" iyz="0" izz="0.007"/>
  </inertial>
  <visual>
    <origin rpy="0 1.54 0" xyz="-0.095 0 0"/>
    <geometry>
      <cylinder length="0.15" radius="0.02"/>
    </geometry>
  </visual>
  <collision>
    <origin rpy="0 1.57 0" xyz="-0.095 0 0"/>
    <geometry>
      <cylinder length="0.15" radius="0.02"/>
    </geometry>
  </collision>
 </link>

<joint name="branch_24_branch_25_joint_revolute_Z" type="revolute">
  <origin rpy="0 0 0" xyz="-0.19 0 0"/>
  <parent link="branch_24"/>
  <child link="branch_24_spherical_joint_link"/>
  <axis xyz="0 0 1"/>
  <dynamics damping="0.5" friction="0"/>
  <limit lower="-1.57079632679" upper="1.57079632679" effort="0.01" velocity="100"/>
</joint>

<link name="branch_24_spherical_joint_link" physical="0">
  <inertial>
  <mass value="0.05"/>
  <inertia ixx="0.005" ixy="0.001" ixz="0" iyy="0.006" iyz="0" izz="0.007"/>
  </inertial>
  <collision>
    <origin rpy="0 0 0" xyz="0 0 0"/>
    <geometry>
      <sphere radius="0.001"/>
    </geometry>
  </collision>
  <visual>
    <origin rpy="0 0 0" xyz="0 0 0"/>
    <geometry>
      <sphere radius="0.001"/>
    </geometry>
  </visual>
</link>

<joint name="branch_24_branch_25_joint_revolute_Y" type="revolute">
  <origin rpy="0 0 0" xyz="0 0 0"/>
  <parent link="branch_24_spherical_joint_link"/>
  <child link="branch_25_cylinder"/>
  <axis xyz="0 1 0"/>
  <dynamics damping="0.5" friction="0"/>
  <limit lower="-1.57079632679" upper="1.57079632679" effort="0.01" velocity="100"/>
</joint>

<link name="branch_25">
  <inertial>
  <mass value="0.05"/>
  <inertia ixx="0.005" ixy="0.001" ixz="0" iyy="0.006" iyz="0" izz="0.007"/>
  </inertial>
  <collision>
    <origin rpy="0 0 0" xyz="-0.19 0 0"/>
    <geometry>
      <sphere radius="0.019"/>
    </geometry>
  </collision>
  <visual>
    <origin rpy="0 0 0" xyz="-0.19 0 0"/>
    <geometry>
      <sphere radius="0.019"/>
    </geometry>
  </visual>
</link>

<joint name="branch_25_fixed" type="fixed">
  <origin rpy="0 0 0" xyz="0 0 0"/>
  <parent link="branch_25_cylinder"/>
  <child link="branch_25"/>
</joint>

<!--############################################################################
branch_30
##############################################################################-->
 <link name="branch_30_cylinder">
  <inertial>
    <mass value="0.05"/>
    <inertia ixx="0.005" ixy="0.001" ixz="0" iyy="0.006" iyz="0" izz="0.007"/>
  </inertial>
  <visual>
    <origin rpy="0 1.54 0" xyz="-0.009375 0 0"/>
    <geometry>
      <cylinder length="0.01875" radius="0.02"/>
    </geometry>
  </visual>
  <collision>
    <origin rpy="0 1.57 0" xyz="-0.009375 0 0"/>
    <geometry>
      <cylinder length="0.01875" radius="0.02"/>
    </geometry>
  </collision>
 </link>

<joint name="head_branch_30_joint" type="fixed">
  <origin rpy="0 0 0" xyz="-0.1 -0.0494974746831 0.0494974746831"/>
  <parent link="head"/>
  <child link="branch_30_cylinder"/>
</joint>

<link name="branch_30">
  <inertial>
  <mass value="0.05"/>
  <inertia ixx="0.005" ixy="0.001" ixz="0" iyy="0.006" iyz="0" izz="0.007"/>
  </inertial>
  <collision>
    <origin rpy="0 0 0" xyz="-0.03875 0 0"/>
    <geometry>
      <sphere radius="0.019"/>
    </geometry>
  </collision>
  <visual>
    <origin rpy="0 0 0" xyz="-0.03875 0 0"/>
    <geometry>
      <sphere radius="0.019"/>
    </geometry>
  </visual>
</link>

<joint name="branch_30_fixed" type="fixed">
  <origin rpy="0 0 0" xyz="0 0 0"/>
  <parent link="branch_30_cylinder"/>
  <child link="branch_30"/>
</joint>

 <link name="branch_31_cylinder">
  <inertial>
    <mass value="0.05"/>
    <inertia ixx="0.005" ixy="0.001" ixz="0" iyy="0.006" iyz="0" izz="0.007"/>
  </inertial>
  <visual>
    <origin rpy="0 1.54 0" xyz="-0.095 0 0"/>
    <geometry>
      <cylinder length="0.15" radius="0.02"/>
    </geometry>
  </visual>
  <collision>
    <origin rpy="0 1.57 0" xyz="-0.095 0 0"/>
    <geometry>
      <cylinder length="0.15" radius="0.02"/>
    </geometry>
  </collision>
 </link>

<joint name="branch_30_branch_31_joint_revolute_Z" type="revolute">
  <origin rpy="0 0 0" xyz="-0.03875 0 0"/>
  <parent link="branch_30"/>
  <child link="branch_30_spherical_joint_link"/>
  <axis xyz="0 0 1"/>
  <dynamics damping="0.5" friction="0"/>
  <limit lower="-1.57079632679" upper="1.57079632679" effort="0.01" velocity="100"/>
</joint>

<link name="branch_30_spherical_joint_link" physical="0">
  <inertial>
  <mass value="0.05"/>
  <inertia ixx="0.005" ixy="0.001" ixz="0" iyy="0.006" iyz="0" izz="0.007"/>
  </inertial>
  <collision>
    <origin rpy="0 0 0" xyz="0 0 0"/>
    <geometry>
      <sphere radius="0.001"/>
    </geometry>
  </collision>
  <visual>
    <origin rpy="0 0 0" xyz="0 0 0"/>
    <geometry>
      <sphere radius="0.001"/>
    </geometry>
  </visual>
</link>

<joint name="branch_30_branch_31_joint_revolute_Y" type="revolute">
  <origin rpy="0 0 0" xyz="0 0 0"/>
  <parent link="branch_30_spherical_joint_link"/>
  <child link="branch_31_cylinder"/>
  <axis xyz="0 1 0"/>
  <dynamics damping="0.5" friction="0"/>
  <limit lower="-1.57079632679" upper="1.57079632679" effort="0.01" velocity="100"/>
</joint>

<link name="branch_31">
  <inertial>
  <mass value="0.05"/>
  <inertia ixx="0.005" ixy="0.001" ixz="0" iyy="0.006" iyz="0" izz="0.007"/>
  </inertial>
  <collision>
    <origin rpy="0 0 0" xyz="-0.19 0 0"/>
    <geometry>
      <sphere radius="0.019"/>
    </geometry>
  </collision>
  <visual>
    <origin rpy="0 0 0" xyz="-0.19 0 0"/>
    <geometry>
      <sphere radius="0.019"/>
    </geometry>
  </visual>
</link>

<joint name="branch_31_fixed" type="fixed">
  <origin rpy="0 0 0" xyz="0 0 0"/>
  <parent link="branch_31_cylinder"/>
  <child link="branch_31"/>
</joint>

 <link name="branch_32_cylinder">
  <inertial>
    <mass value="0.05"/>
    <inertia ixx="0.005" ixy="0.001" ixz="0" iyy="0.006" iyz="0" izz="0.007"/>
  </inertial>
  <visual>
    <origin rpy="0 1.54 0" xyz="-0.095 0 0"/>
    <geometry>
      <cylinder length="0.15" radius="0.02"/>
    </geometry>
  </visual>
  <collision>
    <origin rpy="0 1.57 0" xyz="-0.095 0 0"/>
    <geometry>
      <cylinder length="0.15" radius="0.02"/>
    </geometry>
  </collision>
 </link>

<joint name="branch_31_branch_32_joint_revolute_Z" type="revolute">
  <origin rpy="0 0 0" xyz="-0.19 0 0"/>
  <parent link="branch_31"/>
  <child link="branch_31_spherical_joint_link"/>
  <axis xyz="0 0 1"/>
  <dynamics damping="0.5" friction="0"/>
  <limit lower="-1.57079632679" upper="1.57079632679" effort="0.01" velocity="100"/>
</joint>

<link name="branch_31_spherical_joint_link" physical="0">
  <inertial>
  <mass value="0.05"/>
  <inertia ixx="0.005" ixy="0.001" ixz="0" iyy="0.006" iyz="0" izz="0.007"/>
  </inertial>
  <collision>
    <origin rpy="0 0 0" xyz="0 0 0"/>
    <geometry>
      <sphere radius="0.001"/>
    </geometry>
  </collision>
  <visual>
    <origin rpy="0 0 0" xyz="0 0 0"/>
    <geometry>
      <sphere radius="0.001"/>
    </geometry>
  </visual>
</link>

<joint name="branch_31_branch_32_joint_revolute_Y" type="revolute">
  <origin rpy="0 0 0" xyz="0 0 0"/>
  <parent link="branch_31_spherical_joint_link"/>
  <child link="branch_32_cylinder"/>
  <axis xyz="0 1 0"/>
  <dynamics damping="0.5" friction="0"/>
  <limit lower="-1.57079632679" upper="1.57079632679" effort="0.01" velocity="100"/>
</joint>

<link name="branch_32">
  <inertial>
  <mass value="0.05"/>
  <inertia ixx="0.005" ixy="0.001" ixz="0" iyy="0.006" iyz="0" izz="0.007"/>
  </inertial>
  <collision>
    <origin rpy="0 0 0" xyz="-0.19 0 0"/>
    <geometry>
      <sphere radius="0.019"/>
    </geometry>
  </collision>
  <visual>
    <origin rpy="0 0 0" xyz="-0.19 0 0"/>
    <geometry>
      <sphere radius="0.019"/>
    </geometry>
  </visual>
</link>

<joint name="branch_32_fixed" type="fixed">
  <origin rpy="0 0 0" xyz="0 0 0"/>
  <parent link="branch_32_cylinder"/>
  <child link="branch_32"/>
</joint>

 <link name="branch_33_cylinder">
  <inertial>
    <mass value="0.05"/>
    <inertia ixx="0.005" ixy="0.001" ixz="0" iyy="0.006" iyz="0" izz="0.007"/>
  </inertial>
  <visual>
    <origin rpy="0 1.54 0" xyz="-0.095 0 0"/>
    <geometry>
      <cylinder length="0.15" radius="0.02"/>
    </geometry>
  </visual>
  <collision>
    <origin rpy="0 1.57 0" xyz="-0.095 0 0"/>
    <geometry>
      <cylinder length="0.15" radius="0.02"/>
    </geometry>
  </collision>
 </link>

<joint name="branch_32_branch_33_joint_revolute_Z" type="revolute">
  <origin rpy="0 0 0" xyz="-0.19 0 0"/>
  <parent link="branch_32"/>
  <child link="branch_32_spherical_joint_link"/>
  <axis xyz="0 0 1"/>
  <dynamics damping="0.5" friction="0"/>
  <limit lower="-1.57079632679" upper="1.57079632679" effort="0.01" velocity="100"/>
</joint>

<link name="branch_32_spherical_joint_link" physical="0">
  <inertial>
  <mass value="0.05"/>
  <inertia ixx="0.005" ixy="0.001" ixz="0" iyy="0.006" iyz="0" izz="0.007"/>
  </inertial>
  <collision>
    <origin rpy="0 0 0" xyz="0 0 0"/>
    <geometry>
      <sphere radius="0.001"/>
    </geometry>
  </collision>
  <visual>
    <origin rpy="0 0 0" xyz="0 0 0"/>
    <geometry>
      <sphere radius="0.001"/>
    </geometry>
  </visual>
</link>

<joint name="branch_32_branch_33_joint_revolute_Y" type="revolute">
  <origin rpy="0 0 0" xyz="0 0 0"/>
  <parent link="branch_32_spherical_joint_link"/>
  <child link="branch_33_cylinder"/>
  <axis xyz="0 1 0"/>
  <dynamics damping="0.5" friction="0"/>
  <limit lower="-1.57079632679" upper="1.57079632679" effort="0.01" velocity="100"/>
</joint>

<link name="branch_33">
  <inertial>
  <mass value="0.05"/>
  <inertia ixx="0.005" ixy="0.001" ixz="0" iyy="0.006" iyz="0" izz="0.007"/>
  </inertial>
  <collision>
    <origin rpy="0 0 0" xyz="-0.19 0 0"/>
    <geometry>
      <sphere radius="0.019"/>
    </geometry>
  </collision>
  <visual>
    <origin rpy="0 0 0" xyz="-0.19 0 0"/>
    <geometry>
      <sphere radius="0.019"/>
    </geometry>
  </visual>
</link>

<joint name="branch_33_fixed" type="fixed">
  <origin rpy="0 0 0" xyz="0 0 0"/>
  <parent link="branch_33_cylinder"/>
  <child link="branch_33"/>
</joint>

 <link name="branch_34_cylinder">
  <inertial>
    <mass value="0.05"/>
    <inertia ixx="0.005" ixy="0.001" ixz="0" iyy="0.006" iyz="0" izz="0.007"/>
  </inertial>
  <visual>
    <origin rpy="0 1.54 0" xyz="-0.095 0 0"/>
    <geometry>
      <cylinder length="0.15" radius="0.02"/>
    </geometry>
  </visual>
  <collision>
    <origin rpy="0 1.57 0" xyz="-0.095 0 0"/>
    <geometry>
      <cylinder length="0.15" radius="0.02"/>
    </geometry>
  </collision>
 </link>

<joint name="branch_33_branch_34_joint_revolute_Z" type="revolute">
  <origin rpy="0 0 0" xyz="-0.19 0 0"/>
  <parent link="branch_33"/>
  <child link="branch_33_spherical_joint_link"/>
  <axis xyz="0 0 1"/>
  <dynamics damping="0.5" friction="0"/>
  <limit lower="-1.57079632679" upper="1.57079632679" effort="0.01" velocity="100"/>
</joint>

<link name="branch_33_spherical_joint_link" physical="0">
  <inertial>
  <mass value="0.05"/>
  <inertia ixx="0.005" ixy="0.001" ixz="0" iyy="0.006" iyz="0" izz="0.007"/>
  </inertial>
  <collision>
    <origin rpy="0 0 0" xyz="0 0 0"/>
    <geometry>
      <sphere radius="0.001"/>
    </geometry>
  </collision>
  <visual>
    <origin rpy="0 0 0" xyz="0 0 0"/>
    <geometry>
      <sphere radius="0.001"/>
    </geometry>
  </visual>
</link>

<joint name="branch_33_branch_34_joint_revolute_Y" type="revolute">
  <origin rpy="0 0 0" xyz="0 0 0"/>
  <parent link="branch_33_spherical_joint_link"/>
  <child link="branch_34_cylinder"/>
  <axis xyz="0 1 0"/>
  <dynamics damping="0.5" friction="0"/>
  <limit lower="-1.57079632679" upper="1.57079632679" effort="0.01" velocity="100"/>
</joint>

<link name="branch_34">
  <inertial>
  <mass value="0.05"/>
  <inertia ixx="0.005" ixy="0.001" ixz="0" iyy="0.006" iyz="0" izz="0.007"/>
  </inertial>
  <collision>
    <origin rpy="0 0 0" xyz="-0.19 0 0"/>
    <geometry>
      <sphere radius="0.019"/>
    </geometry>
  </collision>
  <visual>
    <origin rpy="0 0 0" xyz="-0.19 0 0"/>
    <geometry>
      <sphere radius="0.019"/>
    </geometry>
  </visual>
</link>

<joint name="branch_34_fixed" type="fixed">
  <origin rpy="0 0 0" xyz="0 0 0"/>
  <parent link="branch_34_cylinder"/>
  <child link="branch_34"/>
</joint>

 <link name="branch_35_cylinder">
  <inertial>
    <mass value="0.05"/>
    <inertia ixx="0.005" ixy="0.001" ixz="0" iyy="0.006" iyz="0" izz="0.007"/>
  </inertial>
  <visual>
    <origin rpy="0 1.54 0" xyz="-0.095 0 0"/>
    <geometry>
      <cylinder length="0.15" radius="0.02"/>
    </geometry>
  </visual>
  <collision>
    <origin rpy="0 1.57 0" xyz="-0.095 0 0"/>
    <geometry>
      <cylinder length="0.15" radius="0.02"/>
    </geometry>
  </collision>
 </link>

<joint name="branch_34_branch_35_joint_revolute_Z" type="revolute">
  <origin rpy="0 0 0" xyz="-0.19 0 0"/>
  <parent link="branch_34"/>
  <child link="branch_34_spherical_joint_link"/>
  <axis xyz="0 0 1"/>
  <dynamics damping="0.5" friction="0"/>
  <limit lower="-1.57079632679" upper="1.57079632679" effort="0.01" velocity="100"/>
</joint>

<link name="branch_34_spherical_joint_link" physical="0">
  <inertial>
  <mass value="0.05"/>
  <inertia ixx="0.005" ixy="0.001" ixz="0" iyy="0.006" iyz="0" izz="0.007"/>
  </inertial>
  <collision>
    <origin rpy="0 0 0" xyz="0 0 0"/>
    <geometry>
      <sphere radius="0.001"/>
    </geometry>
  </collision>
  <visual>
    <origin rpy="0 0 0" xyz="0 0 0"/>
    <geometry>
      <sphere radius="0.001"/>
    </geometry>
  </visual>
</link>

<joint name="branch_34_branch_35_joint_revolute_Y" type="revolute">
  <origin rpy="0 0 0" xyz="0 0 0"/>
  <parent link="branch_34_spherical_joint_link"/>
  <child link="branch_35_cylinder"/>
  <axis xyz="0 1 0"/>
  <dynamics damping="0.5" friction="0"/>
  <limit lower="-1.57079632679" upper="1.57079632679" effort="0.01" velocity="100"/>
</joint>

<link name="branch_35">
  <inertial>
  <mass value="0.05"/>
  <inertia ixx="0.005" ixy="0.001" ixz="0" iyy="0.006" iyz="0" izz="0.007"/>
  </inertial>
  <collision>
    <origin rpy="0 0 0" xyz="-0.19 0 0"/>
    <geometry>
      <sphere radius="0.019"/>
    </geometry>
  </collision>
  <visual>
    <origin rpy="0 0 0" xyz="-0.19 0 0"/>
    <geometry>
      <sphere radius="0.019"/>
    </geometry>
  </visual>
</link>

<joint name="branch_35_fixed" type="fixed">
  <origin rpy="0 0 0" xyz="0 0 0"/>
  <parent link="branch_35_cylinder"/>
  <child link="branch_35"/>
</joint>

<!--############################################################################
branch_40
##############################################################################-->
 <link name="branch_40_cylinder">
  <inertial>
    <mass value="0.05"/>
    <inertia ixx="0.005" ixy="0.001" ixz="0" iyy="0.006" iyz="0" izz="0.007"/>
  </inertial>
  <visual>
    <origin rpy="0 1.54 0" xyz="-0.009375 0 0"/>
    <geometry>
      <cylinder length="0.01875" radius="0.02"/>
    </geometry>
  </visual>
  <collision>
    <origin rpy="0 1.57 0" xyz="-0.009375 0 0"/>
    <geometry>
      <cylinder length="0.01875" radius="0.02"/>
    </geometry>
  </collision>
 </link>

<joint name="head_branch_40_joint" type="fixed">
  <origin rpy="0 0 0" xyz="-0.1 -0.07 8.57252759403e-18"/>
  <parent link="head"/>
  <child link="branch_40_cylinder"/>
</joint>

<link name="branch_40">
  <inertial>
  <mass value="0.05"/>
  <inertia ixx="0.005" ixy="0.001" ixz="0" iyy="0.006" iyz="0" izz="0.007"/>
  </inertial>
  <collision>
    <origin rpy="0 0 0" xyz="-0.03875 0 0"/>
    <geometry>
      <sphere radius="0.019"/>
    </geometry>
  </collision>
  <visual>
    <origin rpy="0 0 0" xyz="-0.03875 0 0"/>
    <geometry>
      <sphere radius="0.019"/>
    </geometry>
  </visual>
</link>

<joint name="branch_40_fixed" type="fixed">
  <origin rpy="0 0 0" xyz="0 0 0"/>
  <parent link="branch_40_cylinder"/>
  <child link="branch_40"/>
</joint>

 <link name="branch_41_cylinder">
  <inertial>
    <mass value="0.05"/>
    <inertia ixx="0.005" ixy="0.001" ixz="0" iyy="0.006" iyz="0" izz="0.007"/>
  </inertial>
  <visual>
    <origin rpy="0 1.54 0" xyz="-0.095 0 0"/>
    <geometry>
      <cylinder length="0.15" radius="0.02"/>
    </geometry>
  </visual>
  <collision>
    <origin rpy="0 1.57 0" xyz="-0.095 0 0"/>
    <geometry>
      <cylinder length="0.15" radius="0.02"/>
    </geometry>
  </collision>
 </link>

<joint name="branch_40_branch_41_joint_revolute_Z" type="revolute">
  <origin rpy="0 0 0" xyz="-0.03875 0 0"/>
  <parent link="branch_40"/>
  <child link="branch_40_spherical_joint_link"/>
  <axis xyz="0 0 1"/>
  <dynamics damping="0.5" friction="0"/>
  <limit lower="-1.57079632679" upper="1.57079632679" effort="0.01" velocity="100"/>
</joint>

<link name="branch_40_spherical_joint_link" physical="0">
  <inertial>
  <mass value="0.05"/>
  <inertia ixx="0.005" ixy="0.001" ixz="0" iyy="0.006" iyz="0" izz="0.007"/>
  </inertial>
  <collision>
    <origin rpy="0 0 0" xyz="0 0 0"/>
    <geometry>
      <sphere radius="0.001"/>
    </geometry>
  </collision>
  <visual>
    <origin rpy="0 0 0" xyz="0 0 0"/>
    <geometry>
      <sphere radius="0.001"/>
    </geometry>
  </visual>
</link>

<joint name="branch_40_branch_41_joint_revolute_Y" type="revolute">
  <origin rpy="0 0 0" xyz="0 0 0"/>
  <parent link="branch_40_spherical_joint_link"/>
  <child link="branch_41_cylinder"/>
  <axis xyz="0 1 0"/>
  <dynamics damping="0.5" friction="0"/>
  <limit lower="-1.57079632679" upper="1.57079632679" effort="0.01" velocity="100"/>
</joint>

<link name="branch_41">
  <inertial>
  <mass value="0.05"/>
  <inertia ixx="0.005" ixy="0.001" ixz="0" iyy="0.006" iyz="0" izz="0.007"/>
  </inertial>
  <collision>
    <origin rpy="0 0 0" xyz="-0.19 0 0"/>
    <geometry>
      <sphere radius="0.019"/>
    </geometry>
  </collision>
  <visual>
    <origin rpy="0 0 0" xyz="-0.19 0 0"/>
    <geometry>
      <sphere radius="0.019"/>
    </geometry>
  </visual>
</link>

<joint name="branch_41_fixed" type="fixed">
  <origin rpy="0 0 0" xyz="0 0 0"/>
  <parent link="branch_41_cylinder"/>
  <child link="branch_41"/>
</joint>

 <link name="branch_42_cylinder">
  <inertial>
    <mass value="0.05"/>
    <inertia ixx="0.005" ixy="0.001" ixz="0" iyy="0.006" iyz="0" izz="0.007"/>
  </inertial>
  <visual>
    <origin rpy="0 1.54 0" xyz="-0.095 0 0"/>
    <geometry>
      <cylinder length="0.15" radius="0.02"/>
    </geometry>
  </visual>
  <collision>
    <origin rpy="0 1.57 0" xyz="-0.095 0 0"/>
    <geometry>
      <cylinder length="0.15" radius="0.02"/>
    </geometry>
  </collision>
 </link>

<joint name="branch_41_branch_42_joint_revolute_Z" type="revolute">
  <origin rpy="0 0 0" xyz="-0.19 0 0"/>
  <parent link="branch_41"/>
  <child link="branch_41_spherical_joint_link"/>
  <axis xyz="0 0 1"/>
  <dynamics damping="0.5" friction="0"/>
  <limit lower="-1.57079632679" upper="1.57079632679" effort="0.01" velocity="100"/>
</joint>

<link name="branch_41_spherical_joint_link" physical="0">
  <inertial>
  <mass value="0.05"/>
  <inertia ixx="0.005" ixy="0.001" ixz="0" iyy="0.006" iyz="0" izz="0.007"/>
  </inertial>
  <collision>
    <origin rpy="0 0 0" xyz="0 0 0"/>
    <geometry>
      <sphere radius="0.001"/>
    </geometry>
  </collision>
  <visual>
    <origin rpy="0 0 0" xyz="0 0 0"/>
    <geometry>
      <sphere radius="0.001"/>
    </geometry>
  </visual>
</link>

<joint name="branch_41_branch_42_joint_revolute_Y" type="revolute">
  <origin rpy="0 0 0" xyz="0 0 0"/>
  <parent link="branch_41_spherical_joint_link"/>
  <child link="branch_42_cylinder"/>
  <axis xyz="0 1 0"/>
  <dynamics damping="0.5" friction="0"/>
  <limit lower="-1.57079632679" upper="1.57079632679" effort="0.01" velocity="100"/>
</joint>

<link name="branch_42">
  <inertial>
  <mass value="0.05"/>
  <inertia ixx="0.005" ixy="0.001" ixz="0" iyy="0.006" iyz="0" izz="0.007"/>
  </inertial>
  <collision>
    <origin rpy="0 0 0" xyz="-0.19 0 0"/>
    <geometry>
      <sphere radius="0.019"/>
    </geometry>
  </collision>
  <visual>
    <origin rpy="0 0 0" xyz="-0.19 0 0"/>
    <geometry>
      <sphere radius="0.019"/>
    </geometry>
  </visual>
</link>

<joint name="branch_42_fixed" type="fixed">
  <origin rpy="0 0 0" xyz="0 0 0"/>
  <parent link="branch_42_cylinder"/>
  <child link="branch_42"/>
</joint>

 <link name="branch_43_cylinder">
  <inertial>
    <mass value="0.05"/>
    <inertia ixx="0.005" ixy="0.001" ixz="0" iyy="0.006" iyz="0" izz="0.007"/>
  </inertial>
  <visual>
    <origin rpy="0 1.54 0" xyz="-0.095 0 0"/>
    <geometry>
      <cylinder length="0.15" radius="0.02"/>
    </geometry>
  </visual>
  <collision>
    <origin rpy="0 1.57 0" xyz="-0.095 0 0"/>
    <geometry>
      <cylinder length="0.15" radius="0.02"/>
    </geometry>
  </collision>
 </link>

<joint name="branch_42_branch_43_joint_revolute_Z" type="revolute">
  <origin rpy="0 0 0" xyz="-0.19 0 0"/>
  <parent link="branch_42"/>
  <child link="branch_42_spherical_joint_link"/>
  <axis xyz="0 0 1"/>
  <dynamics damping="0.5" friction="0"/>
  <limit lower="-1.57079632679" upper="1.57079632679" effort="0.01" velocity="100"/>
</joint>

<link name="branch_42_spherical_joint_link" physical="0">
  <inertial>
  <mass value="0.05"/>
  <inertia ixx="0.005" ixy="0.001" ixz="0" iyy="0.006" iyz="0" izz="0.007"/>
  </inertial>
  <collision>
    <origin rpy="0 0 0" xyz="0 0 0"/>
    <geometry>
      <sphere radius="0.001"/>
    </geometry>
  </collision>
  <visual>
    <origin rpy="0 0 0" xyz="0 0 0"/>
    <geometry>
      <sphere radius="0.001"/>
    </geometry>
  </visual>
</link>

<joint name="branch_42_branch_43_joint_revolute_Y" type="revolute">
  <origin rpy="0 0 0" xyz="0 0 0"/>
  <parent link="branch_42_spherical_joint_link"/>
  <child link="branch_43_cylinder"/>
  <axis xyz="0 1 0"/>
  <dynamics damping="0.5" friction="0"/>
  <limit lower="-1.57079632679" upper="1.57079632679" effort="0.01" velocity="100"/>
</joint>

<link name="branch_43">
  <inertial>
  <mass value="0.05"/>
  <inertia ixx="0.005" ixy="0.001" ixz="0" iyy="0.006" iyz="0" izz="0.007"/>
  </inertial>
  <collision>
    <origin rpy="0 0 0" xyz="-0.19 0 0"/>
    <geometry>
      <sphere radius="0.019"/>
    </geometry>
  </collision>
  <visual>
    <origin rpy="0 0 0" xyz="-0.19 0 0"/>
    <geometry>
      <sphere radius="0.019"/>
    </geometry>
  </visual>
</link>

<joint name="branch_43_fixed" type="fixed">
  <origin rpy="0 0 0" xyz="0 0 0"/>
  <parent link="branch_43_cylinder"/>
  <child link="branch_43"/>
</joint>

 <link name="branch_44_cylinder">
  <inertial>
    <mass value="0.05"/>
    <inertia ixx="0.005" ixy="0.001" ixz="0" iyy="0.006" iyz="0" izz="0.007"/>
  </inertial>
  <visual>
    <origin rpy="0 1.54 0" xyz="-0.095 0 0"/>
    <geometry>
      <cylinder length="0.15" radius="0.02"/>
    </geometry>
  </visual>
  <collision>
    <origin rpy="0 1.57 0" xyz="-0.095 0 0"/>
    <geometry>
      <cylinder length="0.15" radius="0.02"/>
    </geometry>
  </collision>
 </link>

<joint name="branch_43_branch_44_joint_revolute_Z" type="revolute">
  <origin rpy="0 0 0" xyz="-0.19 0 0"/>
  <parent link="branch_43"/>
  <child link="branch_43_spherical_joint_link"/>
  <axis xyz="0 0 1"/>
  <dynamics damping="0.5" friction="0"/>
  <limit lower="-1.57079632679" upper="1.57079632679" effort="0.01" velocity="100"/>
</joint>

<link name="branch_43_spherical_joint_link" physical="0">
  <inertial>
  <mass value="0.05"/>
  <inertia ixx="0.005" ixy="0.001" ixz="0" iyy="0.006" iyz="0" izz="0.007"/>
  </inertial>
  <collision>
    <origin rpy="0 0 0" xyz="0 0 0"/>
    <geometry>
      <sphere radius="0.001"/>
    </geometry>
  </collision>
  <visual>
    <origin rpy="0 0 0" xyz="0 0 0"/>
    <geometry>
      <sphere radius="0.001"/>
    </geometry>
  </visual>
</link>

<joint name="branch_43_branch_44_joint_revolute_Y" type="revolute">
  <origin rpy="0 0 0" xyz="0 0 0"/>
  <parent link="branch_43_spherical_joint_link"/>
  <child link="branch_44_cylinder"/>
  <axis xyz="0 1 0"/>
  <dynamics damping="0.5" friction="0"/>
  <limit lower="-1.57079632679" upper="1.57079632679" effort="0.01" velocity="100"/>
</joint>

<link name="branch_44">
  <inertial>
  <mass value="0.05"/>
  <inertia ixx="0.005" ixy="0.001" ixz="0" iyy="0.006" iyz="0" izz="0.007"/>
  </inertial>
  <collision>
    <origin rpy="0 0 0" xyz="-0.19 0 0"/>
    <geometry>
      <sphere radius="0.019"/>
    </geometry>
  </collision>
  <visual>
    <origin rpy="0 0 0" xyz="-0.19 0 0"/>
    <geometry>
      <sphere radius="0.019"/>
    </geometry>
  </visual>
</link>

<joint name="branch_44_fixed" type="fixed">
  <origin rpy="0 0 0" xyz="0 0 0"/>
  <parent link="branch_44_cylinder"/>
  <child link="branch_44"/>
</joint>

 <link name="branch_45_cylinder">
  <inertial>
    <mass value="0.05"/>
    <inertia ixx="0.005" ixy="0.001" ixz="0" iyy="0.006" iyz="0" izz="0.007"/>
  </inertial>
  <visual>
    <origin rpy="0 1.54 0" xyz="-0.095 0 0"/>
    <geometry>
      <cylinder length="0.15" radius="0.02"/>
    </geometry>
  </visual>
  <collision>
    <origin rpy="0 1.57 0" xyz="-0.095 0 0"/>
    <geometry>
      <cylinder length="0.15" radius="0.02"/>
    </geometry>
  </collision>
 </link>

<joint name="branch_44_branch_45_joint_revolute_Z" type="revolute">
  <origin rpy="0 0 0" xyz="-0.19 0 0"/>
  <parent link="branch_44"/>
  <child link="branch_44_spherical_joint_link"/>
  <axis xyz="0 0 1"/>
  <dynamics damping="0.5" friction="0"/>
  <limit lower="-1.57079632679" upper="1.57079632679" effort="0.01" velocity="100"/>
</joint>

<link name="branch_44_spherical_joint_link" physical="0">
  <inertial>
  <mass value="0.05"/>
  <inertia ixx="0.005" ixy="0.001" ixz="0" iyy="0.006" iyz="0" izz="0.007"/>
  </inertial>
  <collision>
    <origin rpy="0 0 0" xyz="0 0 0"/>
    <geometry>
      <sphere radius="0.001"/>
    </geometry>
  </collision>
  <visual>
    <origin rpy="0 0 0" xyz="0 0 0"/>
    <geometry>
      <sphere radius="0.001"/>
    </geometry>
  </visual>
</link>

<joint name="branch_44_branch_45_joint_revolute_Y" type="revolute">
  <origin rpy="0 0 0" xyz="0 0 0"/>
  <parent link="branch_44_spherical_joint_link"/>
  <child link="branch_45_cylinder"/>
  <axis xyz="0 1 0"/>
  <dynamics damping="0.5" friction="0"/>
  <limit lower="-1.57079632679" upper="1.57079632679" effort="0.01" velocity="100"/>
</joint>

<link name="branch_45">
  <inertial>
  <mass value="0.05"/>
  <inertia ixx="0.005" ixy="0.001" ixz="0" iyy="0.006" iyz="0" izz="0.007"/>
  </inertial>
  <collision>
    <origin rpy="0 0 0" xyz="-0.19 0 0"/>
    <geometry>
      <sphere radius="0.019"/>
    </geometry>
  </collision>
  <visual>
    <origin rpy="0 0 0" xyz="-0.19 0 0"/>
    <geometry>
      <sphere radius="0.019"/>
    </geometry>
  </visual>
</link>

<joint name="branch_45_fixed" type="fixed">
  <origin rpy="0 0 0" xyz="0 0 0"/>
  <parent link="branch_45_cylinder"/>
  <child link="branch_45"/>
</joint>

<!--############################################################################
branch_50
##############################################################################-->
 <link name="branch_50_cylinder">
  <inertial>
    <mass value="0.05"/>
    <inertia ixx="0.005" ixy="0.001" ixz="0" iyy="0.006" iyz="0" izz="0.007"/>
  </inertial>
  <visual>
    <origin rpy="0 1.54 0" xyz="-0.009375 0 0"/>
    <geometry>
      <cylinder length="0.01875" radius="0.02"/>
    </geometry>
  </visual>
  <collision>
    <origin rpy="0 1.57 0" xyz="-0.009375 0 0"/>
    <geometry>
      <cylinder length="0.01875" radius="0.02"/>
    </geometry>
  </collision>
 </link>

<joint name="head_branch_50_joint" type="fixed">
  <origin rpy="0 0 0" xyz="-0.1 -0.0494974746831 -0.0494974746831"/>
  <parent link="head"/>
  <child link="branch_50_cylinder"/>
</joint>

<link name="branch_50">
  <inertial>
  <mass value="0.05"/>
  <inertia ixx="0.005" ixy="0.001" ixz="0" iyy="0.006" iyz="0" izz="0.007"/>
  </inertial>
  <collision>
    <origin rpy="0 0 0" xyz="-0.03875 0 0"/>
    <geometry>
      <sphere radius="0.019"/>
    </geometry>
  </collision>
  <visual>
    <origin rpy="0 0 0" xyz="-0.03875 0 0"/>
    <geometry>
      <sphere radius="0.019"/>
    </geometry>
  </visual>
</link>

<joint name="branch_50_fixed" type="fixed">
  <origin rpy="0 0 0" xyz="0 0 0"/>
  <parent link="branch_50_cylinder"/>
  <child link="branch_50"/>
</joint>

 <link name="branch_51_cylinder">
  <inertial>
    <mass value="0.05"/>
    <inertia ixx="0.005" ixy="0.001" ixz="0" iyy="0.006" iyz="0" izz="0.007"/>
  </inertial>
  <visual>
    <origin rpy="0 1.54 0" xyz="-0.095 0 0"/>
    <geometry>
      <cylinder length="0.15" radius="0.02"/>
    </geometry>
  </visual>
  <collision>
    <origin rpy="0 1.57 0" xyz="-0.095 0 0"/>
    <geometry>
      <cylinder length="0.15" radius="0.02"/>
    </geometry>
  </collision>
 </link>

<joint name="branch_50_branch_51_joint_revolute_Z" type="revolute">
  <origin rpy="0 0 0" xyz="-0.03875 0 0"/>
  <parent link="branch_50"/>
  <child link="branch_50_spherical_joint_link"/>
  <axis xyz="0 0 1"/>
  <dynamics damping="0.5" friction="0"/>
  <limit lower="-1.57079632679" upper="1.57079632679" effort="0.01" velocity="100"/>
</joint>

<link name="branch_50_spherical_joint_link" physical="0">
  <inertial>
  <mass value="0.05"/>
  <inertia ixx="0.005" ixy="0.001" ixz="0" iyy="0.006" iyz="0" izz="0.007"/>
  </inertial>
  <collision>
    <origin rpy="0 0 0" xyz="0 0 0"/>
    <geometry>
      <sphere radius="0.001"/>
    </geometry>
  </collision>
  <visual>
    <origin rpy="0 0 0" xyz="0 0 0"/>
    <geometry>
      <sphere radius="0.001"/>
    </geometry>
  </visual>
</link>

<joint name="branch_50_branch_51_joint_revolute_Y" type="revolute">
  <origin rpy="0 0 0" xyz="0 0 0"/>
  <parent link="branch_50_spherical_joint_link"/>
  <child link="branch_51_cylinder"/>
  <axis xyz="0 1 0"/>
  <dynamics damping="0.5" friction="0"/>
  <limit lower="-1.57079632679" upper="1.57079632679" effort="0.01" velocity="100"/>
</joint>

<link name="branch_51">
  <inertial>
  <mass value="0.05"/>
  <inertia ixx="0.005" ixy="0.001" ixz="0" iyy="0.006" iyz="0" izz="0.007"/>
  </inertial>
  <collision>
    <origin rpy="0 0 0" xyz="-0.19 0 0"/>
    <geometry>
      <sphere radius="0.019"/>
    </geometry>
  </collision>
  <visual>
    <origin rpy="0 0 0" xyz="-0.19 0 0"/>
    <geometry>
      <sphere radius="0.019"/>
    </geometry>
  </visual>
</link>

<joint name="branch_51_fixed" type="fixed">
  <origin rpy="0 0 0" xyz="0 0 0"/>
  <parent link="branch_51_cylinder"/>
  <child link="branch_51"/>
</joint>

 <link name="branch_52_cylinder">
  <inertial>
    <mass value="0.05"/>
    <inertia ixx="0.005" ixy="0.001" ixz="0" iyy="0.006" iyz="0" izz="0.007"/>
  </inertial>
  <visual>
    <origin rpy="0 1.54 0" xyz="-0.095 0 0"/>
    <geometry>
      <cylinder length="0.15" radius="0.02"/>
    </geometry>
  </visual>
  <collision>
    <origin rpy="0 1.57 0" xyz="-0.095 0 0"/>
    <geometry>
      <cylinder length="0.15" radius="0.02"/>
    </geometry>
  </collision>
 </link>

<joint name="branch_51_branch_52_joint_revolute_Z" type="revolute">
  <origin rpy="0 0 0" xyz="-0.19 0 0"/>
  <parent link="branch_51"/>
  <child link="branch_51_spherical_joint_link"/>
  <axis xyz="0 0 1"/>
  <dynamics damping="0.5" friction="0"/>
  <limit lower="-1.57079632679" upper="1.57079632679" effort="0.01" velocity="100"/>
</joint>

<link name="branch_51_spherical_joint_link" physical="0">
  <inertial>
  <mass value="0.05"/>
  <inertia ixx="0.005" ixy="0.001" ixz="0" iyy="0.006" iyz="0" izz="0.007"/>
  </inertial>
  <collision>
    <origin rpy="0 0 0" xyz="0 0 0"/>
    <geometry>
      <sphere radius="0.001"/>
    </geometry>
  </collision>
  <visual>
    <origin rpy="0 0 0" xyz="0 0 0"/>
    <geometry>
      <sphere radius="0.001"/>
    </geometry>
  </visual>
</link>

<joint name="branch_51_branch_52_joint_revolute_Y" type="revolute">
  <origin rpy="0 0 0" xyz="0 0 0"/>
  <parent link="branch_51_spherical_joint_link"/>
  <child link="branch_52_cylinder"/>
  <axis xyz="0 1 0"/>
  <dynamics damping="0.5" friction="0"/>
  <limit lower="-1.57079632679" upper="1.57079632679" effort="0.01" velocity="100"/>
</joint>

<link name="branch_52">
  <inertial>
  <mass value="0.05"/>
  <inertia ixx="0.005" ixy="0.001" ixz="0" iyy="0.006" iyz="0" izz="0.007"/>
  </inertial>
  <collision>
    <origin rpy="0 0 0" xyz="-0.19 0 0"/>
    <geometry>
      <sphere radius="0.019"/>
    </geometry>
  </collision>
  <visual>
    <origin rpy="0 0 0" xyz="-0.19 0 0"/>
    <geometry>
      <sphere radius="0.019"/>
    </geometry>
  </visual>
</link>

<joint name="branch_52_fixed" type="fixed">
  <origin rpy="0 0 0" xyz="0 0 0"/>
  <parent link="branch_52_cylinder"/>
  <child link="branch_52"/>
</joint>

 <link name="branch_53_cylinder">
  <inertial>
    <mass value="0.05"/>
    <inertia ixx="0.005" ixy="0.001" ixz="0" iyy="0.006" iyz="0" izz="0.007"/>
  </inertial>
  <visual>
    <origin rpy="0 1.54 0" xyz="-0.095 0 0"/>
    <geometry>
      <cylinder length="0.15" radius="0.02"/>
    </geometry>
  </visual>
  <collision>
    <origin rpy="0 1.57 0" xyz="-0.095 0 0"/>
    <geometry>
      <cylinder length="0.15" radius="0.02"/>
    </geometry>
  </collision>
 </link>

<joint name="branch_52_branch_53_joint_revolute_Z" type="revolute">
  <origin rpy="0 0 0" xyz="-0.19 0 0"/>
  <parent link="branch_52"/>
  <child link="branch_52_spherical_joint_link"/>
  <axis xyz="0 0 1"/>
  <dynamics damping="0.5" friction="0"/>
  <limit lower="-1.57079632679" upper="1.57079632679" effort="0.01" velocity="100"/>
</joint>

<link name="branch_52_spherical_joint_link" physical="0">
  <inertial>
  <mass value="0.05"/>
  <inertia ixx="0.005" ixy="0.001" ixz="0" iyy="0.006" iyz="0" izz="0.007"/>
  </inertial>
  <collision>
    <origin rpy="0 0 0" xyz="0 0 0"/>
    <geometry>
      <sphere radius="0.001"/>
    </geometry>
  </collision>
  <visual>
    <origin rpy="0 0 0" xyz="0 0 0"/>
    <geometry>
      <sphere radius="0.001"/>
    </geometry>
  </visual>
</link>

<joint name="branch_52_branch_53_joint_revolute_Y" type="revolute">
  <origin rpy="0 0 0" xyz="0 0 0"/>
  <parent link="branch_52_spherical_joint_link"/>
  <child link="branch_53_cylinder"/>
  <axis xyz="0 1 0"/>
  <dynamics damping="0.5" friction="0"/>
  <limit lower="-1.57079632679" upper="1.57079632679" effort="0.01" velocity="100"/>
</joint>

<link name="branch_53">
  <inertial>
  <mass value="0.05"/>
  <inertia ixx="0.005" ixy="0.001" ixz="0" iyy="0.006" iyz="0" izz="0.007"/>
  </inertial>
  <collision>
    <origin rpy="0 0 0" xyz="-0.19 0 0"/>
    <geometry>
      <sphere radius="0.019"/>
    </geometry>
  </collision>
  <visual>
    <origin rpy="0 0 0" xyz="-0.19 0 0"/>
    <geometry>
      <sphere radius="0.019"/>
    </geometry>
  </visual>
</link>

<joint name="branch_53_fixed" type="fixed">
  <origin rpy="0 0 0" xyz="0 0 0"/>
  <parent link="branch_53_cylinder"/>
  <child link="branch_53"/>
</joint>

 <link name="branch_54_cylinder">
  <inertial>
    <mass value="0.05"/>
    <inertia ixx="0.005" ixy="0.001" ixz="0" iyy="0.006" iyz="0" izz="0.007"/>
  </inertial>
  <visual>
    <origin rpy="0 1.54 0" xyz="-0.095 0 0"/>
    <geometry>
      <cylinder length="0.15" radius="0.02"/>
    </geometry>
  </visual>
  <collision>
    <origin rpy="0 1.57 0" xyz="-0.095 0 0"/>
    <geometry>
      <cylinder length="0.15" radius="0.02"/>
    </geometry>
  </collision>
 </link>

<joint name="branch_53_branch_54_joint_revolute_Z" type="revolute">
  <origin rpy="0 0 0" xyz="-0.19 0 0"/>
  <parent link="branch_53"/>
  <child link="branch_53_spherical_joint_link"/>
  <axis xyz="0 0 1"/>
  <dynamics damping="0.5" friction="0"/>
  <limit lower="-1.57079632679" upper="1.57079632679" effort="0.01" velocity="100"/>
</joint>

<link name="branch_53_spherical_joint_link" physical="0">
  <inertial>
  <mass value="0.05"/>
  <inertia ixx="0.005" ixy="0.001" ixz="0" iyy="0.006" iyz="0" izz="0.007"/>
  </inertial>
  <collision>
    <origin rpy="0 0 0" xyz="0 0 0"/>
    <geometry>
      <sphere radius="0.001"/>
    </geometry>
  </collision>
  <visual>
    <origin rpy="0 0 0" xyz="0 0 0"/>
    <geometry>
      <sphere radius="0.001"/>
    </geometry>
  </visual>
</link>

<joint name="branch_53_branch_54_joint_revolute_Y" type="revolute">
  <origin rpy="0 0 0" xyz="0 0 0"/>
  <parent link="branch_53_spherical_joint_link"/>
  <child link="branch_54_cylinder"/>
  <axis xyz="0 1 0"/>
  <dynamics damping="0.5" friction="0"/>
  <limit lower="-1.57079632679" upper="1.57079632679" effort="0.01" velocity="100"/>
</joint>

<link name="branch_54">
  <inertial>
  <mass value="0.05"/>
  <inertia ixx="0.005" ixy="0.001" ixz="0" iyy="0.006" iyz="0" izz="0.007"/>
  </inertial>
  <collision>
    <origin rpy="0 0 0" xyz="-0.19 0 0"/>
    <geometry>
      <sphere radius="0.019"/>
    </geometry>
  </collision>
  <visual>
    <origin rpy="0 0 0" xyz="-0.19 0 0"/>
    <geometry>
      <sphere radius="0.019"/>
    </geometry>
  </visual>
</link>

<joint name="branch_54_fixed" type="fixed">
  <origin rpy="0 0 0" xyz="0 0 0"/>
  <parent link="branch_54_cylinder"/>
  <child link="branch_54"/>
</joint>

 <link name="branch_55_cylinder">
  <inertial>
    <mass value="0.05"/>
    <inertia ixx="0.005" ixy="0.001" ixz="0" iyy="0.006" iyz="0" izz="0.007"/>
  </inertial>
  <visual>
    <origin rpy="0 1.54 0" xyz="-0.095 0 0"/>
    <geometry>
      <cylinder length="0.15" radius="0.02"/>
    </geometry>
  </visual>
  <collision>
    <origin rpy="0 1.57 0" xyz="-0.095 0 0"/>
    <geometry>
      <cylinder length="0.15" radius="0.02"/>
    </geometry>
  </collision>
 </link>

<joint name="branch_54_branch_55_joint_revolute_Z" type="revolute">
  <origin rpy="0 0 0" xyz="-0.19 0 0"/>
  <parent link="branch_54"/>
  <child link="branch_54_spherical_joint_link"/>
  <axis xyz="0 0 1"/>
  <dynamics damping="0.5" friction="0"/>
  <limit lower="-1.57079632679" upper="1.57079632679" effort="0.01" velocity="100"/>
</joint>

<link name="branch_54_spherical_joint_link" physical="0">
  <inertial>
  <mass value="0.05"/>
  <inertia ixx="0.005" ixy="0.001" ixz="0" iyy="0.006" iyz="0" izz="0.007"/>
  </inertial>
  <collision>
    <origin rpy="0 0 0" xyz="0 0 0"/>
    <geometry>
      <sphere radius="0.001"/>
    </geometry>
  </collision>
  <visual>
    <origin rpy="0 0 0" xyz="0 0 0"/>
    <geometry>
      <sphere radius="0.001"/>
    </geometry>
  </visual>
</link>

<joint name="branch_54_branch_55_joint_revolute_Y" type="revolute">
  <origin rpy="0 0 0" xyz="0 0 0"/>
  <parent link="branch_54_spherical_joint_link"/>
  <child link="branch_55_cylinder"/>
  <axis xyz="0 1 0"/>
  <dynamics damping="0.5" friction="0"/>
  <limit lower="-1.57079632679" upper="1.57079632679" effort="0.01" velocity="100"/>
</joint>

<link name="branch_55">
  <inertial>
  <mass value="0.05"/>
  <inertia ixx="0.005" ixy="0.001" ixz="0" iyy="0.006" iyz="0" izz="0.007"/>
  </inertial>
  <collision>
    <origin rpy="0 0 0" xyz="-0.19 0 0"/>
    <geometry>
      <sphere radius="0.019"/>
    </geometry>
  </collision>
  <visual>
    <origin rpy="0 0 0" xyz="-0.19 0 0"/>
    <geometry>
      <sphere radius="0.019"/>
    </geometry>
  </visual>
</link>

<joint name="branch_55_fixed" type="fixed">
  <origin rpy="0 0 0" xyz="0 0 0"/>
  <parent link="branch_55_cylinder"/>
  <child link="branch_55"/>
</joint>

<!--############################################################################
branch_60
##############################################################################-->
 <link name="branch_60_cylinder">
  <inertial>
    <mass value="0.05"/>
    <inertia ixx="0.005" ixy="0.001" ixz="0" iyy="0.006" iyz="0" izz="0.007"/>
  </inertial>
  <visual>
    <origin rpy="0 1.54 0" xyz="-0.009375 0 0"/>
    <geometry>
      <cylinder length="0.01875" radius="0.02"/>
    </geometry>
  </visual>
  <collision>
    <origin rpy="0 1.57 0" xyz="-0.009375 0 0"/>
    <geometry>
      <cylinder length="0.01875" radius="0.02"/>
    </geometry>
  </collision>
 </link>

<joint name="head_branch_60_joint" type="fixed">
  <origin rpy="0 0 0" xyz="-0.1 -1.2858791391e-17 -0.07"/>
  <parent link="head"/>
  <child link="branch_60_cylinder"/>
</joint>

<link name="branch_60">
  <inertial>
  <mass value="0.05"/>
  <inertia ixx="0.005" ixy="0.001" ixz="0" iyy="0.006" iyz="0" izz="0.007"/>
  </inertial>
  <collision>
    <origin rpy="0 0 0" xyz="-0.03875 0 0"/>
    <geometry>
      <sphere radius="0.019"/>
    </geometry>
  </collision>
  <visual>
    <origin rpy="0 0 0" xyz="-0.03875 0 0"/>
    <geometry>
      <sphere radius="0.019"/>
    </geometry>
  </visual>
</link>

<joint name="branch_60_fixed" type="fixed">
  <origin rpy="0 0 0" xyz="0 0 0"/>
  <parent link="branch_60_cylinder"/>
  <child link="branch_60"/>
</joint>

 <link name="branch_61_cylinder">
  <inertial>
    <mass value="0.05"/>
    <inertia ixx="0.005" ixy="0.001" ixz="0" iyy="0.006" iyz="0" izz="0.007"/>
  </inertial>
  <visual>
    <origin rpy="0 1.54 0" xyz="-0.095 0 0"/>
    <geometry>
      <cylinder length="0.15" radius="0.02"/>
    </geometry>
  </visual>
  <collision>
    <origin rpy="0 1.57 0" xyz="-0.095 0 0"/>
    <geometry>
      <cylinder length="0.15" radius="0.02"/>
    </geometry>
  </collision>
 </link>

<joint name="branch_60_branch_61_joint_revolute_Z" type="revolute">
  <origin rpy="0 0 0" xyz="-0.03875 0 0"/>
  <parent link="branch_60"/>
  <child link="branch_60_spherical_joint_link"/>
  <axis xyz="0 0 1"/>
  <dynamics damping="0.5" friction="0"/>
  <limit lower="-1.57079632679" upper="1.57079632679" effort="0.01" velocity="100"/>
</joint>

<link name="branch_60_spherical_joint_link" physical="0">
  <inertial>
  <mass value="0.05"/>
  <inertia ixx="0.005" ixy="0.001" ixz="0" iyy="0.006" iyz="0" izz="0.007"/>
  </inertial>
  <collision>
    <origin rpy="0 0 0" xyz="0 0 0"/>
    <geometry>
      <sphere radius="0.001"/>
    </geometry>
  </collision>
  <visual>
    <origin rpy="0 0 0" xyz="0 0 0"/>
    <geometry>
      <sphere radius="0.001"/>
    </geometry>
  </visual>
</link>

<joint name="branch_60_branch_61_joint_revolute_Y" type="revolute">
  <origin rpy="0 0 0" xyz="0 0 0"/>
  <parent link="branch_60_spherical_joint_link"/>
  <child link="branch_61_cylinder"/>
  <axis xyz="0 1 0"/>
  <dynamics damping="0.5" friction="0"/>
  <limit lower="-1.57079632679" upper="1.57079632679" effort="0.01" velocity="100"/>
</joint>

<link name="branch_61">
  <inertial>
  <mass value="0.05"/>
  <inertia ixx="0.005" ixy="0.001" ixz="0" iyy="0.006" iyz="0" izz="0.007"/>
  </inertial>
  <collision>
    <origin rpy="0 0 0" xyz="-0.19 0 0"/>
    <geometry>
      <sphere radius="0.019"/>
    </geometry>
  </collision>
  <visual>
    <origin rpy="0 0 0" xyz="-0.19 0 0"/>
    <geometry>
      <sphere radius="0.019"/>
    </geometry>
  </visual>
</link>

<joint name="branch_61_fixed" type="fixed">
  <origin rpy="0 0 0" xyz="0 0 0"/>
  <parent link="branch_61_cylinder"/>
  <child link="branch_61"/>
</joint>

 <link name="branch_62_cylinder">
  <inertial>
    <mass value="0.05"/>
    <inertia ixx="0.005" ixy="0.001" ixz="0" iyy="0.006" iyz="0" izz="0.007"/>
  </inertial>
  <visual>
    <origin rpy="0 1.54 0" xyz="-0.095 0 0"/>
    <geometry>
      <cylinder length="0.15" radius="0.02"/>
    </geometry>
  </visual>
  <collision>
    <origin rpy="0 1.57 0" xyz="-0.095 0 0"/>
    <geometry>
      <cylinder length="0.15" radius="0.02"/>
    </geometry>
  </collision>
 </link>

<joint name="branch_61_branch_62_joint_revolute_Z" type="revolute">
  <origin rpy="0 0 0" xyz="-0.19 0 0"/>
  <parent link="branch_61"/>
  <child link="branch_61_spherical_joint_link"/>
  <axis xyz="0 0 1"/>
  <dynamics damping="0.5" friction="0"/>
  <limit lower="-1.57079632679" upper="1.57079632679" effort="0.01" velocity="100"/>
</joint>

<link name="branch_61_spherical_joint_link" physical="0">
  <inertial>
  <mass value="0.05"/>
  <inertia ixx="0.005" ixy="0.001" ixz="0" iyy="0.006" iyz="0" izz="0.007"/>
  </inertial>
  <collision>
    <origin rpy="0 0 0" xyz="0 0 0"/>
    <geometry>
      <sphere radius="0.001"/>
    </geometry>
  </collision>
  <visual>
    <origin rpy="0 0 0" xyz="0 0 0"/>
    <geometry>
      <sphere radius="0.001"/>
    </geometry>
  </visual>
</link>

<joint name="branch_61_branch_62_joint_revolute_Y" type="revolute">
  <origin rpy="0 0 0" xyz="0 0 0"/>
  <parent link="branch_61_spherical_joint_link"/>
  <child link="branch_62_cylinder"/>
  <axis xyz="0 1 0"/>
  <dynamics damping="0.5" friction="0"/>
  <limit lower="-1.57079632679" upper="1.57079632679" effort="0.01" velocity="100"/>
</joint>

<link name="branch_62">
  <inertial>
  <mass value="0.05"/>
  <inertia ixx="0.005" ixy="0.001" ixz="0" iyy="0.006" iyz="0" izz="0.007"/>
  </inertial>
  <collision>
    <origin rpy="0 0 0" xyz="-0.19 0 0"/>
    <geometry>
      <sphere radius="0.019"/>
    </geometry>
  </collision>
  <visual>
    <origin rpy="0 0 0" xyz="-0.19 0 0"/>
    <geometry>
      <sphere radius="0.019"/>
    </geometry>
  </visual>
</link>

<joint name="branch_62_fixed" type="fixed">
  <origin rpy="0 0 0" xyz="0 0 0"/>
  <parent link="branch_62_cylinder"/>
  <child link="branch_62"/>
</joint>

 <link name="branch_63_cylinder">
  <inertial>
    <mass value="0.05"/>
    <inertia ixx="0.005" ixy="0.001" ixz="0" iyy="0.006" iyz="0" izz="0.007"/>
  </inertial>
  <visual>
    <origin rpy="0 1.54 0" xyz="-0.095 0 0"/>
    <geometry>
      <cylinder length="0.15" radius="0.02"/>
    </geometry>
  </visual>
  <collision>
    <origin rpy="0 1.57 0" xyz="-0.095 0 0"/>
    <geometry>
      <cylinder length="0.15" radius="0.02"/>
    </geometry>
  </collision>
 </link>

<joint name="branch_62_branch_63_joint_revolute_Z" type="revolute">
  <origin rpy="0 0 0" xyz="-0.19 0 0"/>
  <parent link="branch_62"/>
  <child link="branch_62_spherical_joint_link"/>
  <axis xyz="0 0 1"/>
  <dynamics damping="0.5" friction="0"/>
  <limit lower="-1.57079632679" upper="1.57079632679" effort="0.01" velocity="100"/>
</joint>

<link name="branch_62_spherical_joint_link" physical="0">
  <inertial>
  <mass value="0.05"/>
  <inertia ixx="0.005" ixy="0.001" ixz="0" iyy="0.006" iyz="0" izz="0.007"/>
  </inertial>
  <collision>
    <origin rpy="0 0 0" xyz="0 0 0"/>
    <geometry>
      <sphere radius="0.001"/>
    </geometry>
  </collision>
  <visual>
    <origin rpy="0 0 0" xyz="0 0 0"/>
    <geometry>
      <sphere radius="0.001"/>
    </geometry>
  </visual>
</link>

<joint name="branch_62_branch_63_joint_revolute_Y" type="revolute">
  <origin rpy="0 0 0" xyz="0 0 0"/>
  <parent link="branch_62_spherical_joint_link"/>
  <child link="branch_63_cylinder"/>
  <axis xyz="0 1 0"/>
  <dynamics damping="0.5" friction="0"/>
  <limit lower="-1.57079632679" upper="1.57079632679" effort="0.01" velocity="100"/>
</joint>

<link name="branch_63">
  <inertial>
  <mass value="0.05"/>
  <inertia ixx="0.005" ixy="0.001" ixz="0" iyy="0.006" iyz="0" izz="0.007"/>
  </inertial>
  <collision>
    <origin rpy="0 0 0" xyz="-0.19 0 0"/>
    <geometry>
      <sphere radius="0.019"/>
    </geometry>
  </collision>
  <visual>
    <origin rpy="0 0 0" xyz="-0.19 0 0"/>
    <geometry>
      <sphere radius="0.019"/>
    </geometry>
  </visual>
</link>

<joint name="branch_63_fixed" type="fixed">
  <origin rpy="0 0 0" xyz="0 0 0"/>
  <parent link="branch_63_cylinder"/>
  <child link="branch_63"/>
</joint>

 <link name="branch_64_cylinder">
  <inertial>
    <mass value="0.05"/>
    <inertia ixx="0.005" ixy="0.001" ixz="0" iyy="0.006" iyz="0" izz="0.007"/>
  </inertial>
  <visual>
    <origin rpy="0 1.54 0" xyz="-0.095 0 0"/>
    <geometry>
      <cylinder length="0.15" radius="0.02"/>
    </geometry>
  </visual>
  <collision>
    <origin rpy="0 1.57 0" xyz="-0.095 0 0"/>
    <geometry>
      <cylinder length="0.15" radius="0.02"/>
    </geometry>
  </collision>
 </link>

<joint name="branch_63_branch_64_joint_revolute_Z" type="revolute">
  <origin rpy="0 0 0" xyz="-0.19 0 0"/>
  <parent link="branch_63"/>
  <child link="branch_63_spherical_joint_link"/>
  <axis xyz="0 0 1"/>
  <dynamics damping="0.5" friction="0"/>
  <limit lower="-1.57079632679" upper="1.57079632679" effort="0.01" velocity="100"/>
</joint>

<link name="branch_63_spherical_joint_link" physical="0">
  <inertial>
  <mass value="0.05"/>
  <inertia ixx="0.005" ixy="0.001" ixz="0" iyy="0.006" iyz="0" izz="0.007"/>
  </inertial>
  <collision>
    <origin rpy="0 0 0" xyz="0 0 0"/>
    <geometry>
      <sphere radius="0.001"/>
    </geometry>
  </collision>
  <visual>
    <origin rpy="0 0 0" xyz="0 0 0"/>
    <geometry>
      <sphere radius="0.001"/>
    </geometry>
  </visual>
</link>

<joint name="branch_63_branch_64_joint_revolute_Y" type="revolute">
  <origin rpy="0 0 0" xyz="0 0 0"/>
  <parent link="branch_63_spherical_joint_link"/>
  <child link="branch_64_cylinder"/>
  <axis xyz="0 1 0"/>
  <dynamics damping="0.5" friction="0"/>
  <limit lower="-1.57079632679" upper="1.57079632679" effort="0.01" velocity="100"/>
</joint>

<link name="branch_64">
  <inertial>
  <mass value="0.05"/>
  <inertia ixx="0.005" ixy="0.001" ixz="0" iyy="0.006" iyz="0" izz="0.007"/>
  </inertial>
  <collision>
    <origin rpy="0 0 0" xyz="-0.19 0 0"/>
    <geometry>
      <sphere radius="0.019"/>
    </geometry>
  </collision>
  <visual>
    <origin rpy="0 0 0" xyz="-0.19 0 0"/>
    <geometry>
      <sphere radius="0.019"/>
    </geometry>
  </visual>
</link>

<joint name="branch_64_fixed" type="fixed">
  <origin rpy="0 0 0" xyz="0 0 0"/>
  <parent link="branch_64_cylinder"/>
  <child link="branch_64"/>
</joint>

 <link name="branch_65_cylinder">
  <inertial>
    <mass value="0.05"/>
    <inertia ixx="0.005" ixy="0.001" ixz="0" iyy="0.006" iyz="0" izz="0.007"/>
  </inertial>
  <visual>
    <origin rpy="0 1.54 0" xyz="-0.095 0 0"/>
    <geometry>
      <cylinder length="0.15" radius="0.02"/>
    </geometry>
  </visual>
  <collision>
    <origin rpy="0 1.57 0" xyz="-0.095 0 0"/>
    <geometry>
      <cylinder length="0.15" radius="0.02"/>
    </geometry>
  </collision>
 </link>

<joint name="branch_64_branch_65_joint_revolute_Z" type="revolute">
  <origin rpy="0 0 0" xyz="-0.19 0 0"/>
  <parent link="branch_64"/>
  <child link="branch_64_spherical_joint_link"/>
  <axis xyz="0 0 1"/>
  <dynamics damping="0.5" friction="0"/>
  <limit lower="-1.57079632679" upper="1.57079632679" effort="0.01" velocity="100"/>
</joint>

<link name="branch_64_spherical_joint_link" physical="0">
  <inertial>
  <mass value="0.05"/>
  <inertia ixx="0.005" ixy="0.001" ixz="0" iyy="0.006" iyz="0" izz="0.007"/>
  </inertial>
  <collision>
    <origin rpy="0 0 0" xyz="0 0 0"/>
    <geometry>
      <sphere radius="0.001"/>
    </geometry>
  </collision>
  <visual>
    <origin rpy="0 0 0" xyz="0 0 0"/>
    <geometry>
      <sphere radius="0.001"/>
    </geometry>
  </visual>
</link>

<joint name="branch_64_branch_65_joint_revolute_Y" type="revolute">
  <origin rpy="0 0 0" xyz="0 0 0"/>
  <parent link="branch_64_spherical_joint_link"/>
  <child link="branch_65_cylinder"/>
  <axis xyz="0 1 0"/>
  <dynamics damping="0.5" friction="0"/>
  <limit lower="-1.57079632679" upper="1.57079632679" effort="0.01" velocity="100"/>
</joint>

<link name="branch_65">
  <inertial>
  <mass value="0.05"/>
  <inertia ixx="0.005" ixy="0.001" ixz="0" iyy="0.006" iyz="0" izz="0.007"/>
  </inertial>
  <collision>
    <origin rpy="0 0 0" xyz="-0.19 0 0"/>
    <geometry>
      <sphere radius="0.019"/>
    </geometry>
  </collision>
  <visual>
    <origin rpy="0 0 0" xyz="-0.19 0 0"/>
    <geometry>
      <sphere radius="0.019"/>
    </geometry>
  </visual>
</link>

<joint name="branch_65_fixed" type="fixed">
  <origin rpy="0 0 0" xyz="0 0 0"/>
  <parent link="branch_65_cylinder"/>
  <child link="branch_65"/>
</joint>

<!--############################################################################
branch_70
##############################################################################-->
 <link name="branch_70_cylinder">
  <inertial>
    <mass value="0.05"/>
    <inertia ixx="0.005" ixy="0.001" ixz="0" iyy="0.006" iyz="0" izz="0.007"/>
  </inertial>
  <visual>
    <origin rpy="0 1.54 0" xyz="-0.009375 0 0"/>
    <geometry>
      <cylinder length="0.01875" radius="0.02"/>
    </geometry>
  </visual>
  <collision>
    <origin rpy="0 1.57 0" xyz="-0.009375 0 0"/>
    <geometry>
      <cylinder length="0.01875" radius="0.02"/>
    </geometry>
  </collision>
 </link>

<joint name="head_branch_70_joint" type="fixed">
  <origin rpy="0 0 0" xyz="-0.1 0.0494974746831 -0.0494974746831"/>
  <parent link="head"/>
  <child link="branch_70_cylinder"/>
</joint>

<link name="branch_70">
  <inertial>
  <mass value="0.05"/>
  <inertia ixx="0.005" ixy="0.001" ixz="0" iyy="0.006" iyz="0" izz="0.007"/>
  </inertial>
  <collision>
    <origin rpy="0 0 0" xyz="-0.03875 0 0"/>
    <geometry>
      <sphere radius="0.019"/>
    </geometry>
  </collision>
  <visual>
    <origin rpy="0 0 0" xyz="-0.03875 0 0"/>
    <geometry>
      <sphere radius="0.019"/>
    </geometry>
  </visual>
</link>

<joint name="branch_70_fixed" type="fixed">
  <origin rpy="0 0 0" xyz="0 0 0"/>
  <parent link="branch_70_cylinder"/>
  <child link="branch_70"/>
</joint>

 <link name="branch_71_cylinder">
  <inertial>
    <mass value="0.05"/>
    <inertia ixx="0.005" ixy="0.001" ixz="0" iyy="0.006" iyz="0" izz="0.007"/>
  </inertial>
  <visual>
    <origin rpy="0 1.54 0" xyz="-0.095 0 0"/>
    <geometry>
      <cylinder length="0.15" radius="0.02"/>
    </geometry>
  </visual>
  <collision>
    <origin rpy="0 1.57 0" xyz="-0.095 0 0"/>
    <geometry>
      <cylinder length="0.15" radius="0.02"/>
    </geometry>
  </collision>
 </link>

<joint name="branch_70_branch_71_joint_revolute_Z" type="revolute">
  <origin rpy="0 0 0" xyz="-0.03875 0 0"/>
  <parent link="branch_70"/>
  <child link="branch_70_spherical_joint_link"/>
  <axis xyz="0 0 1"/>
  <dynamics damping="0.5" friction="0"/>
  <limit lower="-1.57079632679" upper="1.57079632679" effort="0.01" velocity="100"/>
</joint>

<link name="branch_70_spherical_joint_link" physical="0">
  <inertial>
  <mass value="0.05"/>
  <inertia ixx="0.005" ixy="0.001" ixz="0" iyy="0.006" iyz="0" izz="0.007"/>
  </inertial>
  <collision>
    <origin rpy="0 0 0" xyz="0 0 0"/>
    <geometry>
      <sphere radius="0.001"/>
    </geometry>
  </collision>
  <visual>
    <origin rpy="0 0 0" xyz="0 0 0"/>
    <geometry>
      <sphere radius="0.001"/>
    </geometry>
  </visual>
</link>

<joint name="branch_70_branch_71_joint_revolute_Y" type="revolute">
  <origin rpy="0 0 0" xyz="0 0 0"/>
  <parent link="branch_70_spherical_joint_link"/>
  <child link="branch_71_cylinder"/>
  <axis xyz="0 1 0"/>
  <dynamics damping="0.5" friction="0"/>
  <limit lower="-1.57079632679" upper="1.57079632679" effort="0.01" velocity="100"/>
</joint>

<link name="branch_71">
  <inertial>
  <mass value="0.05"/>
  <inertia ixx="0.005" ixy="0.001" ixz="0" iyy="0.006" iyz="0" izz="0.007"/>
  </inertial>
  <collision>
    <origin rpy="0 0 0" xyz="-0.19 0 0"/>
    <geometry>
      <sphere radius="0.019"/>
    </geometry>
  </collision>
  <visual>
    <origin rpy="0 0 0" xyz="-0.19 0 0"/>
    <geometry>
      <sphere radius="0.019"/>
    </geometry>
  </visual>
</link>

<joint name="branch_71_fixed" type="fixed">
  <origin rpy="0 0 0" xyz="0 0 0"/>
  <parent link="branch_71_cylinder"/>
  <child link="branch_71"/>
</joint>

 <link name="branch_72_cylinder">
  <inertial>
    <mass value="0.05"/>
    <inertia ixx="0.005" ixy="0.001" ixz="0" iyy="0.006" iyz="0" izz="0.007"/>
  </inertial>
  <visual>
    <origin rpy="0 1.54 0" xyz="-0.095 0 0"/>
    <geometry>
      <cylinder length="0.15" radius="0.02"/>
    </geometry>
  </visual>
  <collision>
    <origin rpy="0 1.57 0" xyz="-0.095 0 0"/>
    <geometry>
      <cylinder length="0.15" radius="0.02"/>
    </geometry>
  </collision>
 </link>

<joint name="branch_71_branch_72_joint_revolute_Z" type="revolute">
  <origin rpy="0 0 0" xyz="-0.19 0 0"/>
  <parent link="branch_71"/>
  <child link="branch_71_spherical_joint_link"/>
  <axis xyz="0 0 1"/>
  <dynamics damping="0.5" friction="0"/>
  <limit lower="-1.57079632679" upper="1.57079632679" effort="0.01" velocity="100"/>
</joint>

<link name="branch_71_spherical_joint_link" physical="0">
  <inertial>
  <mass value="0.05"/>
  <inertia ixx="0.005" ixy="0.001" ixz="0" iyy="0.006" iyz="0" izz="0.007"/>
  </inertial>
  <collision>
    <origin rpy="0 0 0" xyz="0 0 0"/>
    <geometry>
      <sphere radius="0.001"/>
    </geometry>
  </collision>
  <visual>
    <origin rpy="0 0 0" xyz="0 0 0"/>
    <geometry>
      <sphere radius="0.001"/>
    </geometry>
  </visual>
</link>

<joint name="branch_71_branch_72_joint_revolute_Y" type="revolute">
  <origin rpy="0 0 0" xyz="0 0 0"/>
  <parent link="branch_71_spherical_joint_link"/>
  <child link="branch_72_cylinder"/>
  <axis xyz="0 1 0"/>
  <dynamics damping="0.5" friction="0"/>
  <limit lower="-1.57079632679" upper="1.57079632679" effort="0.01" velocity="100"/>
</joint>

<link name="branch_72">
  <inertial>
  <mass value="0.05"/>
  <inertia ixx="0.005" ixy="0.001" ixz="0" iyy="0.006" iyz="0" izz="0.007"/>
  </inertial>
  <collision>
    <origin rpy="0 0 0" xyz="-0.19 0 0"/>
    <geometry>
      <sphere radius="0.019"/>
    </geometry>
  </collision>
  <visual>
    <origin rpy="0 0 0" xyz="-0.19 0 0"/>
    <geometry>
      <sphere radius="0.019"/>
    </geometry>
  </visual>
</link>

<joint name="branch_72_fixed" type="fixed">
  <origin rpy="0 0 0" xyz="0 0 0"/>
  <parent link="branch_72_cylinder"/>
  <child link="branch_72"/>
</joint>

 <link name="branch_73_cylinder">
  <inertial>
    <mass value="0.05"/>
    <inertia ixx="0.005" ixy="0.001" ixz="0" iyy="0.006" iyz="0" izz="0.007"/>
  </inertial>
  <visual>
    <origin rpy="0 1.54 0" xyz="-0.095 0 0"/>
    <geometry>
      <cylinder length="0.15" radius="0.02"/>
    </geometry>
  </visual>
  <collision>
    <origin rpy="0 1.57 0" xyz="-0.095 0 0"/>
    <geometry>
      <cylinder length="0.15" radius="0.02"/>
    </geometry>
  </collision>
 </link>

<joint name="branch_72_branch_73_joint_revolute_Z" type="revolute">
  <origin rpy="0 0 0" xyz="-0.19 0 0"/>
  <parent link="branch_72"/>
  <child link="branch_72_spherical_joint_link"/>
  <axis xyz="0 0 1"/>
  <dynamics damping="0.5" friction="0"/>
  <limit lower="-1.57079632679" upper="1.57079632679" effort="0.01" velocity="100"/>
</joint>

<link name="branch_72_spherical_joint_link" physical="0">
  <inertial>
  <mass value="0.05"/>
  <inertia ixx="0.005" ixy="0.001" ixz="0" iyy="0.006" iyz="0" izz="0.007"/>
  </inertial>
  <collision>
    <origin rpy="0 0 0" xyz="0 0 0"/>
    <geometry>
      <sphere radius="0.001"/>
    </geometry>
  </collision>
  <visual>
    <origin rpy="0 0 0" xyz="0 0 0"/>
    <geometry>
      <sphere radius="0.001"/>
    </geometry>
  </visual>
</link>

<joint name="branch_72_branch_73_joint_revolute_Y" type="revolute">
  <origin rpy="0 0 0" xyz="0 0 0"/>
  <parent link="branch_72_spherical_joint_link"/>
  <child link="branch_73_cylinder"/>
  <axis xyz="0 1 0"/>
  <dynamics damping="0.5" friction="0"/>
  <limit lower="-1.57079632679" upper="1.57079632679" effort="0.01" velocity="100"/>
</joint>

<link name="branch_73">
  <inertial>
  <mass value="0.05"/>
  <inertia ixx="0.005" ixy="0.001" ixz="0" iyy="0.006" iyz="0" izz="0.007"/>
  </inertial>
  <collision>
    <origin rpy="0 0 0" xyz="-0.19 0 0"/>
    <geometry>
      <sphere radius="0.019"/>
    </geometry>
  </collision>
  <visual>
    <origin rpy="0 0 0" xyz="-0.19 0 0"/>
    <geometry>
      <sphere radius="0.019"/>
    </geometry>
  </visual>
</link>

<joint name="branch_73_fixed" type="fixed">
  <origin rpy="0 0 0" xyz="0 0 0"/>
  <parent link="branch_73_cylinder"/>
  <child link="branch_73"/>
</joint>

 <link name="branch_74_cylinder">
  <inertial>
    <mass value="0.05"/>
    <inertia ixx="0.005" ixy="0.001" ixz="0" iyy="0.006" iyz="0" izz="0.007"/>
  </inertial>
  <visual>
    <origin rpy="0 1.54 0" xyz="-0.095 0 0"/>
    <geometry>
      <cylinder length="0.15" radius="0.02"/>
    </geometry>
  </visual>
  <collision>
    <origin rpy="0 1.57 0" xyz="-0.095 0 0"/>
    <geometry>
      <cylinder length="0.15" radius="0.02"/>
    </geometry>
  </collision>
 </link>

<joint name="branch_73_branch_74_joint_revolute_Z" type="revolute">
  <origin rpy="0 0 0" xyz="-0.19 0 0"/>
  <parent link="branch_73"/>
  <child link="branch_73_spherical_joint_link"/>
  <axis xyz="0 0 1"/>
  <dynamics damping="0.5" friction="0"/>
  <limit lower="-1.57079632679" upper="1.57079632679" effort="0.01" velocity="100"/>
</joint>

<link name="branch_73_spherical_joint_link" physical="0">
  <inertial>
  <mass value="0.05"/>
  <inertia ixx="0.005" ixy="0.001" ixz="0" iyy="0.006" iyz="0" izz="0.007"/>
  </inertial>
  <collision>
    <origin rpy="0 0 0" xyz="0 0 0"/>
    <geometry>
      <sphere radius="0.001"/>
    </geometry>
  </collision>
  <visual>
    <origin rpy="0 0 0" xyz="0 0 0"/>
    <geometry>
      <sphere radius="0.001"/>
    </geometry>
  </visual>
</link>

<joint name="branch_73_branch_74_joint_revolute_Y" type="revolute">
  <origin rpy="0 0 0" xyz="0 0 0"/>
  <parent link="branch_73_spherical_joint_link"/>
  <child link="branch_74_cylinder"/>
  <axis xyz="0 1 0"/>
  <dynamics damping="0.5" friction="0"/>
  <limit lower="-1.57079632679" upper="1.57079632679" effort="0.01" velocity="100"/>
</joint>

<link name="branch_74">
  <inertial>
  <mass value="0.05"/>
  <inertia ixx="0.005" ixy="0.001" ixz="0" iyy="0.006" iyz="0" izz="0.007"/>
  </inertial>
  <collision>
    <origin rpy="0 0 0" xyz="-0.19 0 0"/>
    <geometry>
      <sphere radius="0.019"/>
    </geometry>
  </collision>
  <visual>
    <origin rpy="0 0 0" xyz="-0.19 0 0"/>
    <geometry>
      <sphere radius="0.019"/>
    </geometry>
  </visual>
</link>

<joint name="branch_74_fixed" type="fixed">
  <origin rpy="0 0 0" xyz="0 0 0"/>
  <parent link="branch_74_cylinder"/>
  <child link="branch_74"/>
</joint>

 <link name="branch_75_cylinder">
  <inertial>
    <mass value="0.05"/>
    <inertia ixx="0.005" ixy="0.001" ixz="0" iyy="0.006" iyz="0" izz="0.007"/>
  </inertial>
  <visual>
    <origin rpy="0 1.54 0" xyz="-0.095 0 0"/>
    <geometry>
      <cylinder length="0.15" radius="0.02"/>
    </geometry>
  </visual>
  <collision>
    <origin rpy="0 1.57 0" xyz="-0.095 0 0"/>
    <geometry>
      <cylinder length="0.15" radius="0.02"/>
    </geometry>
  </collision>
 </link>

<joint name="branch_74_branch_75_joint_revolute_Z" type="revolute">
  <origin rpy="0 0 0" xyz="-0.19 0 0"/>
  <parent link="branch_74"/>
  <child link="branch_74_spherical_joint_link"/>
  <axis xyz="0 0 1"/>
  <dynamics damping="0.5" friction="0"/>
  <limit lower="-1.57079632679" upper="1.57079632679" effort="0.01" velocity="100"/>
</joint>

<link name="branch_74_spherical_joint_link" physical="0">
  <inertial>
  <mass value="0.05"/>
  <inertia ixx="0.005" ixy="0.001" ixz="0" iyy="0.006" iyz="0" izz="0.007"/>
  </inertial>
  <collision>
    <origin rpy="0 0 0" xyz="0 0 0"/>
    <geometry>
      <sphere radius="0.001"/>
    </geometry>
  </collision>
  <visual>
    <origin rpy="0 0 0" xyz="0 0 0"/>
    <geometry>
      <sphere radius="0.001"/>
    </geometry>
  </visual>
</link>

<joint name="branch_74_branch_75_joint_revolute_Y" type="revolute">
  <origin rpy="0 0 0" xyz="0 0 0"/>
  <parent link="branch_74_spherical_joint_link"/>
  <child link="branch_75_cylinder"/>
  <axis xyz="0 1 0"/>
  <dynamics damping="0.5" friction="0"/>
  <limit lower="-1.57079632679" upper="1.57079632679" effort="0.01" velocity="100"/>
</joint>

<link name="branch_75">
  <inertial>
  <mass value="0.05"/>
  <inertia ixx="0.005" ixy="0.001" ixz="0" iyy="0.006" iyz="0" izz="0.007"/>
  </inertial>
  <collision>
    <origin rpy="0 0 0" xyz="-0.19 0 0"/>
    <geometry>
      <sphere radius="0.019"/>
    </geometry>
  </collision>
  <visual>
    <origin rpy="0 0 0" xyz="-0.19 0 0"/>
    <geometry>
      <sphere radius="0.019"/>
    </geometry>
  </visual>
</link>

<joint name="branch_75_fixed" type="fixed">
  <origin rpy="0 0 0" xyz="0 0 0"/>
  <parent link="branch_75_cylinder"/>
  <child link="branch_75"/>
</joint>

  <klampt package_root="../../.." default_acc_max="4" >
  </klampt>
</robot>
